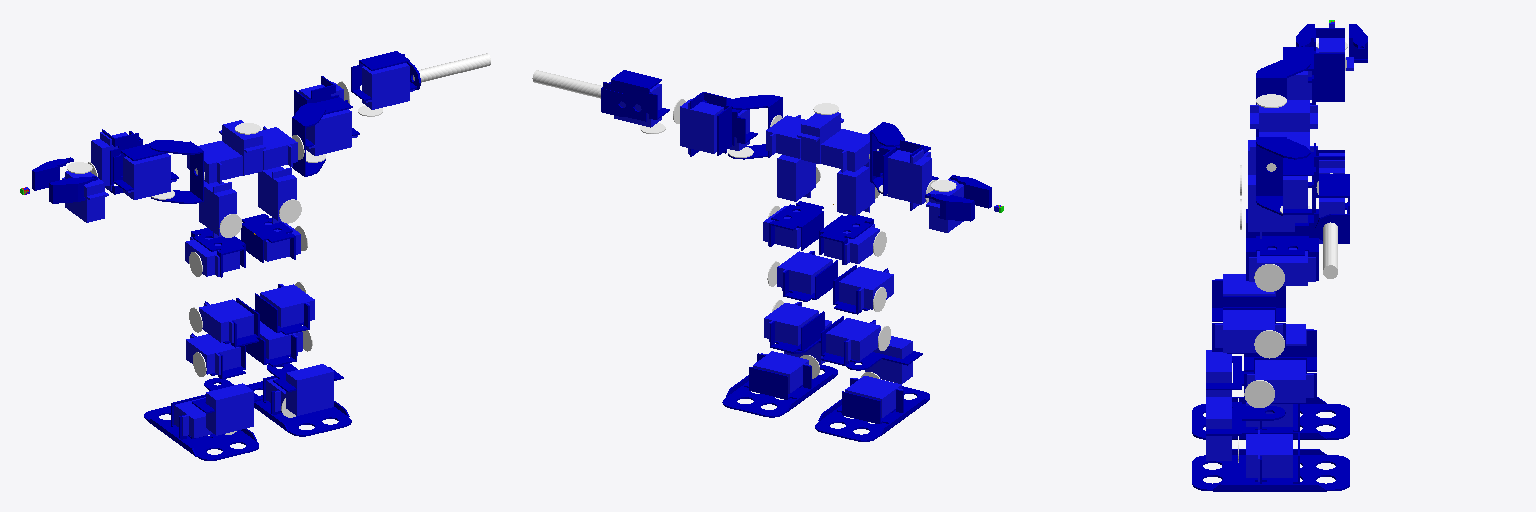
--- Render facts (derived) ---
3 views of the same robot in one strip: view 1: azimuth 30°, elevation 25°; view 2: azimuth 150°, elevation 25°; view 3: azimuth 270°, elevation 25° (orthographic).
Model george with 102 links and 101 joints (27 revolute, 74 fixed), rooted at base_link, posed every joint at zero.
Visible links, largest first — view 1: lpright_servo_servo_body, lpleft_servo_servo_body, rfoot, LWristFlex_servo_body, RElbow_servo_body, lfoot, RKnee_servo_body, LElbow_servo_body, rshoulder1, lthigh2, LKnee_servo_body, LWaist_servo_body (+22 smaller); view 2: rfoot, RWristTwist_servo_body, lfoot, LWristTwist_servo_body, lforearm4, RAnkleBend_servo_body, lthigh2, RShoulder_servo_body, RWaist_servo_body, LWaist_servo_body, RKnee_servo_body, LAnkleBend_servo_body (+22 smaller); view 3: lfoot, rfoot, lshoulder1, LAnkleTilt_servo_body, rforearm2, LKnee_servo_body, LAnkleBend_servo_body, lthigh2, lpleft_servo_servo_body, rknee1, rshoulder1, Head_servo_body (+18 smaller).
Boxes of the visible links, x1,y1,x2,y2 form: lpright_servo_servo_body: (206, 383, 253, 435); lpleft_servo_servo_body: (286, 364, 333, 415); rfoot: (144, 406, 258, 460); LWristFlex_servo_body: (362, 63, 409, 109); RElbow_servo_body: (123, 153, 170, 199); lfoot: (246, 381, 351, 436); RKnee_servo_body: (199, 299, 253, 342); LElbow_servo_body: (306, 109, 351, 155); rshoulder1: (150, 140, 203, 203); lthigh2: (241, 214, 295, 262); LKnee_servo_body: (260, 284, 314, 327); LWaist_servo_body: (258, 166, 296, 220); rfoot: (815, 386, 929, 441); RWristTwist_servo_body: (888, 150, 931, 204); lfoot: (722, 364, 837, 417); LWristTwist_servo_body: (680, 99, 723, 153); lforearm4: (603, 70, 669, 121); RAnkleBend_servo_body: (826, 318, 880, 360); lthigh2: (769, 201, 823, 250); RShoulder_servo_body: (821, 129, 869, 171); RWaist_servo_body: (837, 166, 874, 215); LWaist_servo_body: (777, 155, 815, 201); RKnee_servo_body: (839, 266, 893, 309); LAnkleBend_servo_body: (764, 303, 818, 345); lfoot: (1192, 449, 1349, 491); rfoot: (1192, 397, 1349, 439); lshoulder1: (1256, 137, 1310, 215); LAnkleTilt_servo_body: (1246, 434, 1292, 477); rforearm2: (1314, 28, 1344, 104); LKnee_servo_body: (1223, 310, 1274, 352); LAnkleBend_servo_body: (1255, 360, 1305, 402); lthigh2: (1246, 236, 1318, 280); lpleft_servo_servo_body: (1206, 397, 1231, 460); rknee1: (1212, 280, 1285, 321); rshoulder1: (1256, 57, 1310, 136); Head_servo_body: (1259, 102, 1309, 131).
Bounding box of the posed robot: 0.5012 × 0.137 × 0.3095 m (x, y, z).
22 mesh visuals loaded from 10 distinct referenced files (7 Collada DAE); not drawn: 13 (file found but could not be loaded).

robot.urdf — george:
<?xml version="1.0" ?>
<!-- =================================================================================== -->
<!-- |    This document was autogenerated by xacro from george.urdf.xacro              | -->
<!-- |    EDITING THIS FILE BY HAND IS NOT RECOMMENDED                                 | -->
<!-- =================================================================================== -->
<robot name="george" xmlns:xacro="http://www.ros.org/wiki/xacro">
  <!-- Import all Gazebo-customization elements, including Gazebo colors -->
  <gazebo>
    <plugin filename="libgazebo_ros_control.so" name="gazebo_ros_control">
      <robotNamespace>/george</robotNamespace>
    </plugin>
  </gazebo>
  <link name="torso_mass">
    <visual>
      <geometry>
        <box size=".001 .001 .001"/>
      </geometry>
    </visual>
    <collision>
      <geometry>
        <box size=".001 .001 .001"/>
      </geometry>
    </collision>
    <inertial>
      <inertia ixx="0.001" ixy="0.0" ixz="0.0" iyy="0.001" iyz="0.0" izz="0.001"/>
      <mass value="0.4"/>
    </inertial>
  </link>
  <link name="base_link">
    <visual>
      <geometry>
        <mesh filename="package://george/meshes/torso_mm.dae" scale="1 1 1"/>
      </geometry>
      <origin rpy="1.5708 0 3.1416" xyz="0 0 0"/>
      <material name="blue">
        <color rgba="0 0 .8 1"/>
      </material>
    </visual>
    <collision>
      <geometry>
        <box size=".040 .02 .0365"/>
      </geometry>
      <origin rpy="0 0 3.1416" xyz="0 0 0"/>
    </collision>
    <!--       <inertial>
	<mass value="0.001"/>
	<xacro:default_inertia/>
      </inertial>
-->
  </link>
  <!-- *****  Servo macro **********  -->
  <!-- servo body parent - for use when the body is the parent -->
  <!-- servo horn parent - for use when the body is the parent -->
  <!-- end servo macro -->
  <!-- cbracket macro, visual origin at inside end -->
  <!-- end multi purpose bracket -->
  <!-- multi purpose bracket macro A side as the parent -->
  <!-- multi purpose bracket macro B side as the parent -->
  <!-- multi purpose bracket macro C side as the parent -->
  <!-- multi purpose bracket macro C side as the parent, rotated -->
  <!-- multi purpose bracket macro -->
  <!-- end multi purpose bracket -->
  <!-- offset-c bracket macro -->
  <!-- end offset c bracket -->
  <!-- lconnector macro -->
  <!-- end lconnector -->
  <!-- foot macro -->
  <!-- end foot macro -->
  <!-- tube -->
  <!-- end tube -->
  <!-- gripper macro -->
  <!-- end gripper macro -->
  <!-- low profile axis macro -->
  <!-- end low profile axis macro -->
  <!-- *********************************************************** -->
  <!-- ****************************** Main robot definition ***************** -->
  <!-- *********************************************************** -->
  <!-- *********************************************************** -->
  <!-- ********* Left Leg **************************************** -->
  <!-- *********************************************************** -->
  <link name="LWaist_servo_body">
    <visual>
      <geometry>
        <box size=".040 .02 .0365"/>
      </geometry>
      <origin rpy="0 0 0" xyz="0 0 -0.00825"/>
      <material name="black">
        <color rgba=".1 .1 1 1"/>
      </material>
    </visual>
    <collision>
      <geometry>
        <box size=".040 .02 .0365"/>
      </geometry>
      <origin rpy="0 0 0" xyz="0 0 -0.00825"/>
    </collision>
    <inertial>
      <mass value="0.055"/>
      <inertia ixx="0.001" ixy="0.0" ixz="0.0" iyy="0.001" iyz="0.0" izz="0.001"/>
    </inertial>
  </link>
  <link name="LWaist_servo_lip">
    <visual>
      <geometry>
        <box size=".0528 .02 .002"/>
      </geometry>
      <origin rpy="0 0 0.001" xyz="0 0 0"/>
      <material name="black">
        <color rgba=".1 .1 1 1"/>
      </material>
    </visual>
    <collision>
      <geometry>
        <box size=".0528 .02 .002"/>
      </geometry>
      <origin rpy="0 0 0.001" xyz="0 0 0"/>
    </collision>
    <inertial>
      <mass value="0.001"/>
      <inertia ixx="0.001" ixy="0.0" ixz="0.0" iyy="0.001" iyz="0.0" izz="0.001"/>
    </inertial>
  </link>
  <link name="LWaist_servo_horn">
    <visual>
      <geometry>
        <cylinder length="0.001" radius="0.012"/>
      </geometry>
      <origin rpy="0 0 0" xyz="0 0 -.0005"/>
      <material name="white">
        <color rgba="1 1 1 1"/>
      </material>
    </visual>
    <collision>
      <geometry>
        <cylinder length="0.001" radius="0.012"/>
      </geometry>
      <origin rpy="0 0 0" xyz="0 0 -.0005"/>
    </collision>
    <inertial>
      <mass value="0.001"/>
      <inertia ixx="0.001" ixy="0.0" ixz="0.0" iyy="0.001" iyz="0.0" izz="0.001"/>
    </inertial>
  </link>
  <joint name="LWaist_servo_lip_to_body" type="fixed">
    <parent link="LWaist_servo_body"/>
    <child link="LWaist_servo_lip"/>
    <origin xyz="0 0 0"/>
  </joint>
  <joint name="LWaist" type="revolute">
    <axis xyz="0 0 -1"/>
    <limit effort="1000.0" lower="-1.5708" upper="1.5708" velocity="0.5"/>
    <parent link="LWaist_servo_body"/>
    <child link="LWaist_servo_horn"/>
    <origin rpy="0 0 1.5708" xyz=".01 0 0.0161"/>
  </joint>
  <joint name="torso_to_base" type="fixed">
    <parent link="base_link"/>
    <child link="torso_mass"/>
    <origin rpy="0 0 0" xyz="0 0 0"/>
  </joint>
  <joint name="torso_to_lwaist" type="fixed">
    <parent link="base_link"/>
    <child link="LWaist_servo_body"/>
    <origin rpy="1.5708 1.5708 0" xyz="0.032 0.005 0.03"/>
  </joint>
  <link name="lthigh1">
    <visual>
      <geometry>
        <mesh filename="package://george/meshes/cbracket-simple.dae" scale="1 1 1"/>
      </geometry>
      <origin rpy="0 1.5708 0" xyz="0 -0.0286 -0.0246"/>
      <material name="blue">
        <color rgba="0 0 .8 1"/>
      </material>
    </visual>
    <collision>
      <geometry>
        <box size=".005 .005 .005"/>
        <!--  mesh filename="package://george/meshes/cbracket-simple.dae" scale="1 1 1"/-->
      </geometry>
      <origin rpy="0 1.5708 0" xyz="0 -0.0286 -0.0246"/>
    </collision>
    <inertial>
      <mass value="0.001"/>
      <inertia ixx="0.001" ixy="0.0" ixz="0.0" iyy="0.001" iyz="0.0" izz="0.001"/>
    </inertial>
  </link>
  <joint name="lthigh1_to_lwaist" type="fixed">
    <parent link="LWaist_servo_horn"/>
    <child link="lthigh1"/>
    <origin rpy="0 0 0" xyz="0 0 0"/>
  </joint>
  <link name="lthigh2">
    <visual>
      <geometry>
        <mesh filename="package://george/meshes/multi-purp-simple.dae" scale="1 1 1"/>
      </geometry>
      <origin rpy="-1.5708 0 1.5708" xyz="0 0 0"/>
      <material name="blue">
        <color rgba="0 0 .8 1"/>
      </material>
    </visual>
    <collision>
      <geometry>
        <box size=".005 .005 .005"/>
        <!--  mesh filename="package://george/meshes/multi-purp-simple.dae" scale="1 1 1"/-->
      </geometry>
      <origin rpy="-1.5708 0 1.5708" xyz="0 0 0"/>
    </collision>
    <inertial>
      <mass value="0.001"/>
      <inertia ixx="0.001" ixy="0.0" ixz="0.0" iyy="0.001" iyz="0.0" izz="0.001"/>
    </inertial>
  </link>
  <joint name="lthigh1_to_lthigh2" type="fixed">
    <parent link="lthigh1"/>
    <child link="lthigh2"/>
    <origin rpy="-1.5708 0 0" xyz="-0.0054 -0.0286 -0.0329"/>
  </joint>
  <link name="LHip_servo_body">
    <visual>
      <geometry>
        <box size=".040 .02 .0365"/>
      </geometry>
      <origin rpy="0 0 0" xyz="0 0 -0.00825"/>
      <material name="black">
        <color rgba=".1 .1 1 1"/>
      </material>
    </visual>
    <collision>
      <geometry>
        <box size=".040 .02 .0365"/>
      </geometry>
      <origin rpy="0 0 0" xyz="0 0 -0.00825"/>
    </collision>
    <inertial>
      <mass value="0.055"/>
      <inertia ixx="0.001" ixy="0.0" ixz="0.0" iyy="0.001" iyz="0.0" izz="0.001"/>
    </inertial>
  </link>
  <link name="LHip_servo_lip">
    <visual>
      <geometry>
        <box size=".0528 .02 .002"/>
      </geometry>
      <origin rpy="0 0 0.001" xyz="0 0 0"/>
      <material name="black">
        <color rgba=".1 .1 1 1"/>
      </material>
    </visual>
    <collision>
      <geometry>
        <box size=".0528 .02 .002"/>
      </geometry>
      <origin rpy="0 0 0.001" xyz="0 0 0"/>
    </collision>
    <inertial>
      <mass value="0.001"/>
      <inertia ixx="0.001" ixy="0.0" ixz="0.0" iyy="0.001" iyz="0.0" izz="0.001"/>
    </inertial>
  </link>
  <link name="LHip_servo_horn">
    <visual>
      <geometry>
        <cylinder length="0.001" radius="0.012"/>
      </geometry>
      <origin rpy="0 0 0" xyz="0 0 -.0005"/>
      <material name="white">
        <color rgba="1 1 1 1"/>
      </material>
    </visual>
    <collision>
      <geometry>
        <cylinder length="0.001" radius="0.012"/>
      </geometry>
      <origin rpy="0 0 0" xyz="0 0 -.0005"/>
    </collision>
    <inertial>
      <mass value="0.001"/>
      <inertia ixx="0.001" ixy="0.0" ixz="0.0" iyy="0.001" iyz="0.0" izz="0.001"/>
    </inertial>
  </link>
  <joint name="LHip_servo_lip_to_body" type="fixed">
    <parent link="LHip_servo_body"/>
    <child link="LHip_servo_lip"/>
    <origin xyz="0 0 0"/>
  </joint>
  <joint name="LHip" type="revolute">
    <axis xyz="0 0 -1"/>
    <limit effort="1000.0" lower="-1.5708" upper="1.5708" velocity="0.5"/>
    <parent link="LHip_servo_body"/>
    <child link="LHip_servo_horn"/>
    <origin rpy="0 0 3.1416" xyz=".01 0 0.0161"/>
  </joint>
  <joint name="lthigh2_to_LHip" type="fixed">
    <parent link="lthigh2"/>
    <child link="LHip_servo_body"/>
    <origin rpy="-1.5708 0 -1.5708" xyz="0.0144 0 -0.0142"/>
  </joint>
  <link name="lthigh3">
    <visual>
      <geometry>
        <mesh filename="package://george/meshes/cbracket-simple.dae" scale="1 1 1"/>
      </geometry>
      <origin rpy="0 1.5708 0" xyz="0 -0.0286 -0.0246"/>
      <material name="blue">
        <color rgba="0 0 .8 1"/>
      </material>
    </visual>
    <collision>
      <geometry>
        <box size=".005 .005 .005"/>
        <!--  mesh filename="package://george/meshes/cbracket-simple.dae" scale="1 1 1"/-->
      </geometry>
      <origin rpy="0 1.5708 0" xyz="0 -0.0286 -0.0246"/>
    </collision>
    <inertial>
      <mass value="0.001"/>
      <inertia ixx="0.001" ixy="0.0" ixz="0.0" iyy="0.001" iyz="0.0" izz="0.001"/>
    </inertial>
  </link>
  <joint name="lthigh3_to_lhip" type="fixed">
    <parent link="LHip_servo_horn"/>
    <child link="lthigh3"/>
    <origin rpy="0 0 0" xyz="0 0 0"/>
  </joint>
  <link name="lthigh4">
    <visual>
      <geometry>
        <mesh filename="package://george/meshes/cbracket-simple.dae" scale="1 1 1"/>
      </geometry>
      <origin rpy="-1.5708 0 0" xyz="0 0 0"/>
      <material name="blue">
        <color rgba="0 0 .8 1"/>
      </material>
    </visual>
    <collision>
      <geometry>
        <box size=".005 .005 .005"/>
        <!--  mesh filename="package://george/meshes/cbracket-simple.dae" scale="1 1 1"/-->
      </geometry>
      <origin rpy="-1.5708 0 0" xyz="0 0 0"/>
    </collision>
    <inertial>
      <mass value="0.001"/>
      <inertia ixx="0.001" ixy="0.0" ixz="0.0" iyy="0.001" iyz="0.0" izz="0.001"/>
    </inertial>
  </link>
  <joint name="lthigh3_to_lthigh4" type="fixed">
    <parent link="lthigh3"/>
    <child link="lthigh4"/>
    <origin rpy="-1.5708 1.5708 0" xyz="0 -0.0286 -0.0246"/>
  </joint>
  <link name="LKnee_servo_body">
    <visual>
      <geometry>
        <box size=".040 .02 .0365"/>
      </geometry>
      <origin rpy="0 0 0" xyz="0.0161 0 -0.00825"/>
      <material name="black">
        <color rgba=".1 .1 1 1"/>
      </material>
    </visual>
    <collision>
      <geometry>
        <box size=".040 .02 .0365"/>
      </geometry>
      <origin rpy="0 0 0" xyz="0.0161 0 -0.00825"/>
    </collision>
    <inertial>
      <mass value="0.055"/>
      <inertia ixx="0.001" ixy="0.0" ixz="0.0" iyy="0.001" iyz="0.0" izz="0.001"/>
    </inertial>
  </link>
  <link name="LKnee_servo_lip">
    <visual>
      <geometry>
        <box size=".0528 .02 .002"/>
      </geometry>
      <origin rpy="0 0 0.001" xyz="0 0 0"/>
      <material name="black">
        <color rgba=".1 .1 1 1"/>
      </material>
    </visual>
    <collision>
      <geometry>
        <box size=".0528 .02 .002"/>
      </geometry>
      <origin rpy="0 0 0.001" xyz="0 0 0"/>
    </collision>
    <inertial>
      <mass value="0.001"/>
      <inertia ixx="0.001" ixy="0.0" ixz="0.0" iyy="0.001" iyz="0.0" izz="0.001"/>
    </inertial>
  </link>
  <link name="LKnee_servo_horn">
    <visual>
      <geometry>
        <cylinder length="0.001" radius="0.012"/>
      </geometry>
      <origin rpy="0 0 0" xyz="0 0 -.0005"/>
      <material name="white">
        <color rgba="1 1 1 1"/>
      </material>
    </visual>
    <collision>
      <geometry>
        <cylinder length="0.001" radius="0.012"/>
      </geometry>
      <origin rpy="0 0 0" xyz="0 0 -.0005"/>
    </collision>
    <inertial>
      <mass value="0.001"/>
      <inertia ixx="0.001" ixy="0.0" ixz="0.0" iyy="0.001" iyz="0.0" izz="0.001"/>
    </inertial>
  </link>
  <joint name="LKnee_servo_lip_to_body" type="fixed">
    <parent link="LKnee_servo_body"/>
    <child link="LKnee_servo_lip"/>
    <origin xyz="0.0161 0 0"/>
  </joint>
  <joint name="LKnee" type="revolute">
    <axis xyz="0 0 1"/>
    <limit effort="1000.0" lower="-1.5708" upper="1.5708" velocity="0.5"/>
    <parent link="LKnee_servo_horn"/>
    <child link="LKnee_servo_body"/>
    <origin rpy="0 0 1.5708" xyz="0.0 0 -0.0161"/>
  </joint>
  <joint name="lthigh4_to_lknee" type="fixed">
    <parent link="lthigh4"/>
    <child link="LKnee_servo_horn"/>
    <origin rpy="0 -1.5708 0" xyz="-0.0246 0 -0.0286"/>
  </joint>
  <link name="lknee1">
    <visual>
      <geometry>
        <mesh filename="package://george/meshes/multi-purp-simple.dae" scale="1 1 1"/>
      </geometry>
      <origin rpy="0 3.1416 3.1416" xyz="0.0161 0.0142 -0.0144"/>
      <material name="blue">
        <color rgba="0 0 .8 1"/>
      </material>
    </visual>
    <collision>
      <geometry>
        <box size=".005 .005 .005"/>
        <!--  mesh filename="package://george/meshes/multi-purp-simple.dae" scale="1 1 1"/-->
      </geometry>
      <origin rpy="0 3.1416 3.1416" xyz="0.0161 0.0142 -0.0144"/>
    </collision>
    <inertial>
      <mass value="0.001"/>
      <inertia ixx="0.001" ixy="0.0" ixz="0.0" iyy="0.001" iyz="0.0" izz="0.001"/>
    </inertial>
  </link>
  <joint name="lknee_to_lknee1" type="fixed">
    <parent link="LKnee_servo_body"/>
    <child link="lknee1"/>
    <origin rpy="0 0 0" xyz="0 0 0"/>
  </joint>
  <link name="lknee2">
    <visual>
      <geometry>
        <mesh filename="package://george/meshes/cbracket-simple.dae" scale="1 1 1"/>
      </geometry>
      <origin rpy="-1.5708 0 0" xyz="0 0 0"/>
      <material name="blue">
        <color rgba="0 0 .8 1"/>
      </material>
    </visual>
    <collision>
      <geometry>
        <box size=".005 .005 .005"/>
        <!--  mesh filename="package://george/meshes/cbracket-simple.dae" scale="1 1 1"/-->
      </geometry>
      <origin rpy="-1.5708 0 0" xyz="0 0 0"/>
    </collision>
    <inertial>
      <mass value="0.001"/>
      <inertia ixx="0.001" ixy="0.0" ixz="0.0" iyy="0.001" iyz="0.0" izz="0.001"/>
    </inertial>
  </link>
  <joint name="lknee1_to_lknee2" type="fixed">
    <parent link="lknee1"/>
    <child link="lknee2"/>
    <origin rpy="1.5708 1.5708 0" xyz="0.0078 0.0141 -0.008"/>
  </joint>
  <link name="LAnkleBend_servo_body">
    <visual>
      <geometry>
        <box size=".040 .02 .0365"/>
      </geometry>
      <origin rpy="0 0 0" xyz="0.0161 0 -0.00825"/>
      <material name="black">
        <color rgba=".1 .1 1 1"/>
      </material>
    </visual>
    <collision>
      <geometry>
        <box size=".040 .02 .0365"/>
      </geometry>
      <origin rpy="0 0 0" xyz="0.0161 0 -0.00825"/>
    </collision>
    <inertial>
      <mass value="0.055"/>
      <inertia ixx="0.001" ixy="0.0" ixz="0.0" iyy="0.001" iyz="0.0" izz="0.001"/>
    </inertial>
  </link>
  <link name="LAnkleBend_servo_lip">
    <visual>
      <geometry>
        <box size=".0528 .02 .002"/>
      </geometry>
      <origin rpy="0 0 0.001" xyz="0 0 0"/>
      <material name="black">
        <color rgba=".1 .1 1 1"/>
      </material>
    </visual>
    <collision>
      <geometry>
        <box size=".0528 .02 .002"/>
      </geometry>
      <origin rpy="0 0 0.001" xyz="0 0 0"/>
    </collision>
    <inertial>
      <mass value="0.001"/>
      <inertia ixx="0.001" ixy="0.0" ixz="0.0" iyy="0.001" iyz="0.0" izz="0.001"/>
    </inertial>
  </link>
  <link name="LAnkleBend_servo_horn">
    <visual>
      <geometry>
        <cylinder length="0.001" radius="0.012"/>
      </geometry>
      <origin rpy="0 0 0" xyz="0 0 -.0005"/>
      <material name="white">
        <color rgba="1 1 1 1"/>
      </material>
    </visual>
    <collision>
      <geometry>
        <cylinder length="0.001" radius="0.012"/>
      </geometry>
      <origin rpy="0 0 0" xyz="0 0 -.0005"/>
    </collision>
    <inertial>
      <mass value="0.001"/>
      <inertia ixx="0.001" ixy="0.0" ixz="0.0" iyy="0.001" iyz="0.0" izz="0.001"/>
    </inertial>
  </link>
  <joint name="LAnkleBend_servo_lip_to_body" type="fixed">
    <parent link="LAnkleBend_servo_body"/>
    <child link="LAnkleBend_servo_lip"/>
    <origin xyz="0.0161 0 0"/>
  </joint>
  <joint name="LAnkleBend" type="revolute">
    <axis xyz="0 0 1"/>
    <limit effort="1000.0" lower="-1.5708" upper="1.5708" velocity="0.5"/>
    <parent link="LAnkleBend_servo_horn"/>
    <child link="LAnkleBend_servo_body"/>
    <origin rpy="0 0 -1.5708" xyz="0.0 0 -0.0161"/>
  </joint>
  <joint name="lknee2_to_lanklebend" type="fixed">
    <parent link="lknee2"/>
    <child link="LAnkleBend_servo_horn"/>
    <origin rpy="0 -1.5708 0" xyz="-0.0246 0 -0.0286"/>
  </joint>
  <link name="lshin1">
    <visual>
      <geometry>
        <mesh filename="package://george/meshes/multi-purp-simple.dae" scale="1 1 1"/>
      </geometry>
      <origin rpy="0 3.1416 0" xyz="0.0161 -0.0142 -0.0144"/>
      <material name="blue">
        <color rgba="0 0 .8 1"/>
      </material>
    </visual>
    <collision>
      <geometry>
        <box size=".005 .005 .005"/>
        <!--  mesh filename="package://george/meshes/multi-purp-simple.dae" scale="1 1 1"/-->
      </geometry>
      <origin rpy="0 3.1416 0" xyz="0.0161 -0.0142 -0.0144"/>
    </collision>
    <inertial>
      <mass value="0.001"/>
      <inertia ixx="0.001" ixy="0.0" ixz="0.0" iyy="0.001" iyz="0.0" izz="0.001"/>
    </inertial>
  </link>
  <joint name="lanklebend_to_lshin1" type="fixed">
    <parent link="LAnkleBend_servo_body"/>
    <child link="lshin1"/>
    <origin rpy="0 0 0" xyz="0 0 0"/>
  </joint>
  <link name="lpleft">
    <visual>
      <geometry>
        <mesh filename="package://george/meshes/low-profile-simple.dae" scale="1 1 1"/>
      </geometry>
      <origin rpy="-1.5708 -1.5708 0" xyz="0 0 0"/>
      <material name="blue">
        <color rgba="0 0 .8 1"/>
      </material>
    </visual>
    <collision>
      <geometry>
        <box size=".005 .005 .005"/>
        <!--  mesh filename="package://george/meshes/low-profile-simple.dae" scale="1 1 1"/-->
      </geometry>
      <origin rpy="-1.5708 -1.5708 0" xyz="0 0 0"/>
      <material name="blue">
        <color rgba="0 0 .8 1"/>
      </material>
    </collision>
    <inertial>
      <mass value="0.001"/>
      <inertia ixx="0.001" ixy="0.0" ixz="0.0" iyy="0.001" iyz="0.0" izz="0.001"/>
    </inertial>
  </link>
  <link name="lpleft_servo_servo_body">
    <visual>
      <geometry>
        <box size=".040 .02 .0365"/>
      </geometry>
      <origin rpy="0 0 0" xyz="0 0 -0.00825"/>
      <material name="black">
        <color rgba=".1 .1 1 1"/>
      </material>
    </visual>
    <collision>
      <geometry>
        <box size=".040 .02 .0365"/>
      </geometry>
      <origin rpy="0 0 0" xyz="0 0 -0.00825"/>
    </collision>
    <inertial>
      <mass value="0.055"/>
      <inertia ixx="0.001" ixy="0.0" ixz="0.0" iyy="0.001" iyz="0.0" izz="0.001"/>
    </inertial>
  </link>
  <joint name="lpleft_lp_to_servo" type="fixed">
    <parent link="lpleft"/>
    <child link="lpleft_servo_servo_body"/>
    <origin rpy="0 1.5708 1.5708" xyz="-0.0397 0.0 0.0097"/>
  </joint>
  <joint name="LAnkleRotate" type="revolute">
    <axis xyz="0 -1 0"/>
    <limit effort="1000.0" lower="-1.5708" upper="1.5708" velocity="0.5"/>
    <parent link="lshin1"/>
    <child link="lpleft"/>
    <origin rpy="0 0 0" xyz="0.0078 -0.0281 -0.008"/>
  </joint>
  <link name="lshin2">
    <visual>
      <geometry>
        <mesh filename="package://george/meshes/cbracket-simple.dae" scale="1 1 1"/>
      </geometry>
      <origin rpy="-1.5708 0 0" xyz="0 0 0"/>
      <material name="blue">
        <color rgba="0 0 .8 1"/>
      </material>
    </visual>
    <collision>
      <geometry>
        <box size=".005 .005 .005"/>
        <!--  mesh filename="package://george/meshes/cbracket-simple.dae" scale="1 1 1"/-->
      </geometry>
      <origin rpy="-1.5708 0 0" xyz="0 0 0"/>
    </collision>
    <inertial>
      <mass value="0.001"/>
      <inertia ixx="0.001" ixy="0.0" ixz="0.0" iyy="0.001" iyz="0.0" izz="0.001"/>
    </inertial>
  </link>
  <joint name="lpleft_to_lshin2" type="fixed">
    <parent link="lpleft"/>
    <child link="lshin2"/>
    <origin rpy="-1.5708 0 0" xyz="0 0 0"/>
  </joint>
  <link name="LAnkleTilt_servo_body">
    <visual>
      <geometry>
        <box size=".040 .02 .0365"/>
      </geometry>
      <origin rpy="0 0 0" xyz="0.0161 0 -0.00825"/>
      <material name="black">
        <color rgba=".1 .1 1 1"/>
      </material>
    </visual>
    <collision>
      <geometry>
        <box size=".040 .02 .0365"/>
      </geometry>
      <origin rpy="0 0 0" xyz="0.0161 0 -0.00825"/>
    </collision>
    <inertial>
      <mass value="0.055"/>
      <inertia ixx="0.001" ixy="0.0" ixz="0.0" iyy="0.001" iyz="0.0" izz="0.001"/>
    </inertial>
  </link>
  <link name="LAnkleTilt_servo_lip">
    <visual>
      <geometry>
        <box size=".0528 .02 .002"/>
      </geometry>
      <origin rpy="0 0 0.001" xyz="0 0 0"/>
      <material name="black">
        <color rgba=".1 .1 1 1"/>
      </material>
    </visual>
    <collision>
      <geometry>
        <box size=".0528 .02 .002"/>
      </geometry>
      <origin rpy="0 0 0.001" xyz="0 0 0"/>
    </collision>
    <inertial>
      <mass value="0.001"/>
      <inertia ixx="0.001" ixy="0.0" ixz="0.0" iyy="0.001" iyz="0.0" izz="0.001"/>
    </inertial>
  </link>
  <link name="LAnkleTilt_servo_horn">
    <visual>
      <geometry>
        <cylinder length="0.001" radius="0.012"/>
      </geometry>
      <origin rpy="0 0 0" xyz="0 0 -.0005"/>
      <material name="white">
        <color rgba="1 1 1 1"/>
      </material>
    </visual>
    <collision>
      <geometry>
        <cylinder length="0.001" radius="0.012"/>
      </geometry>
      <origin rpy="0 0 0" xyz="0 0 -.0005"/>
    </collision>
    <inertial>
      <mass value="0.001"/>
      <inertia ixx="0.001" ixy="0.0" ixz="0.0" iyy="0.001" iyz="0.0" izz="0.001"/>
    </inertial>
  </link>
  <joint name="LAnkleTilt_servo_lip_to_body" type="fixed">
    <parent link="LAnkleTilt_servo_body"/>
    <child link="LAnkleTilt_servo_lip"/>
    <origin xyz="0.0161 0 0"/>
  </joint>
  <joint name="LAnkleTilt" type="revolute">
    <axis xyz="0 0 1"/>
    <limit effort="1000.0" lower="-1.5708" upper="1.5708" velocity="0.5"/>
    <parent link="LAnkleTilt_servo_horn"/>
    <child link="LAnkleTilt_servo_body"/>
    <origin rpy="0 0 -1.5708" xyz="0.0 0 -0.0161"/>
  </joint>
  <joint name="lshin2_to_lankletwist" type="fixed">
    <parent link="lshin2"/>
    <child link="LAnkleTilt_servo_horn"/>
    <origin rpy="0 -1.5708 0" xyz="-0.0246 0 -0.0286"/>
  </joint>
  <link name="lshin3">
    <visual>
      <geometry>
        <mesh filename="package://george/meshes/multi-purp-simple.dae" scale="1 1 1"/>
      </geometry>
      <origin rpy="0 3.1416 0" xyz="0.0161 -0.0142 -0.0144"/>
      <material name="blue">
        <color rgba="0 0 .8 1"/>
      </material>
    </visual>
    <collision>
      <geometry>
        <box size=".005 .005 .005"/>
        <!--  mesh filename="package://george/meshes/multi-purp-simple.dae" scale="1 1 1"/-->
      </geometry>
      <origin rpy="0 3.1416 0" xyz="0.0161 -0.0142 -0.0144"/>
    </collision>
    <inertial>
      <mass value="0.001"/>
      <inertia ixx="0.001" ixy="0.0" ixz="0.0" iyy="0.001" iyz="0.0" izz="0.001"/>
    </inertial>
  </link>
  <joint name="lankletwist_to_lshin3" type="fixed">
    <parent link="LAnkleTilt_servo_body"/>
    <child link="lshin3"/>
    <origin rpy="0 0 0" xyz="0 0 0"/>
  </joint>
  <link name="lfoot">
    <visual>
      <geometry>
        <mesh filename="package://george/meshes/foot.dae"/>
      </geometry>
      <origin rpy="0 0 0" xyz="0 0 0"/>
      <material name="blue">
        <color rgba="0 0 .8 1"/>
      </material>
    </visual>
    <collision>
      <geometry>
        <box size="0.065 0.002 0.15"/>
      </geometry>
      <origin rpy="0 0 0" xyz="0 0 0"/>
    </collision>
    <inertial>
      <mass value="0.001"/>
      <inertia ixx="0.001" ixy="0.0" ixz="0.0" iyy="0.001" iyz="0.0" izz="0.001"/>
    </inertial>
  </link>
  <joint name="lshin3_to_lfoot" type="fixed">
    <parent link="lshin3"/>
    <child link="lfoot"/>
    <origin rpy="0 3.1416 0" xyz="0.0161 -0.0156 -0.0"/>
  </joint>
  <!-- *********************************************************** -->
  <!-- ***** Right Leg ******************************************* -->
  <!-- *********************************************************** -->
  <link name="RWaist_servo_body">
    <visual>
      <geometry>
        <box size=".040 .02 .0365"/>
      </geometry>
      <origin rpy="0 0 0" xyz="0 0 -0.00825"/>
      <material name="black">
        <color rgba=".1 .1 1 1"/>
      </material>
    </visual>
    <collision>
      <geometry>
        <box size=".040 .02 .0365"/>
      </geometry>
      <origin rpy="0 0 0" xyz="0 0 -0.00825"/>
    </collision>
    <inertial>
      <mass value="0.055"/>
      <inertia ixx="0.001" ixy="0.0" ixz="0.0" iyy="0.001" iyz="0.0" izz="0.001"/>
    </inertial>
  </link>
  <link name="RWaist_servo_lip">
    <visual>
      <geometry>
        <box size=".0528 .02 .002"/>
      </geometry>
      <origin rpy="0 0 0.001" xyz="0 0 0"/>
      <material name="black">
        <color rgba=".1 .1 1 1"/>
      </material>
    </visual>
    <collision>
      <geometry>
        <box size=".0528 .02 .002"/>
      </geometry>
      <origin rpy="0 0 0.001" xyz="0 0 0"/>
    </collision>
    <inertial>
      <mass value="0.001"/>
      <inertia ixx="0.001" ixy="0.0" ixz="0.0" iyy="0.001" iyz="0.0" izz="0.001"/>
    </inertial>
  </link>
  <link name="RWaist_servo_horn">
    <visual>
      <geometry>
        <cylinder length="0.001" radius="0.012"/>
      </geometry>
      <origin rpy="0 0 0" xyz="0 0 -.0005"/>
      <material name="white">
        <color rgba="1 1 1 1"/>
      </material>
    </visual>
    <collision>
      <geometry>
        <cylinder length="0.001" radius="0.012"/>
      </geometry>
      <origin rpy="0 0 0" xyz="0 0 -.0005"/>
    </collision>
    <inertial>
      <mass value="0.001"/>
      <inertia ixx="0.001" ixy="0.0" ixz="0.0" iyy="0.001" iyz="0.0" izz="0.001"/>
    </inertial>
  </link>
  <joint name="RWaist_servo_lip_to_body" type="fixed">
    <parent link="RWaist_servo_body"/>
    <child link="RWaist_servo_lip"/>
    <origin xyz="0 0 0"/>
  </joint>
  <joint name="RWaist" type="revolute">
    <axis xyz="0 0 -1"/>
    <limit effort="1000.0" lower="-1.5708" upper="1.5708" velocity="0.5"/>
    <parent link="RWaist_servo_body"/>
    <child link="RWaist_servo_horn"/>
    <origin rpy="0 0 1.5708" xyz=".01 0 0.0161"/>
  </joint>
  <joint name="torso_to_rwaist" type="fixed">
    <parent link="base_link"/>
    <child link="RWaist_servo_body"/>
    <origin rpy="1.5708 1.5708 0" xyz="-0.032 0.005 0.03"/>
  </joint>
  <link name="rthigh1">
    <visual>
      <geometry>
        <mesh filename="package://george/meshes/cbracket-simple.dae" scale="1 1 1"/>
      </geometry>
      <origin rpy="0 1.5708 0" xyz="0 -0.0286 -0.0246"/>
      <material name="blue">
        <color rgba="0 0 .8 1"/>
      </material>
    </visual>
    <collision>
      <geometry>
        <box size=".005 .005 .005"/>
        <!--  mesh filename="package://george/meshes/cbracket-simple.dae" scale="1 1 1"/-->
      </geometry>
      <origin rpy="0 1.5708 0" xyz="0 -0.0286 -0.0246"/>
    </collision>
    <inertial>
      <mass value="0.001"/>
      <inertia ixx="0.001" ixy="0.0" ixz="0.0" iyy="0.001" iyz="0.0" izz="0.001"/>
    </inertial>
  </link>
  <joint name="rthigh1_to_rwaist" type="fixed">
    <parent link="RWaist_servo_horn"/>
    <child link="rthigh1"/>
    <origin rpy="0 0 0" xyz="0 0 0"/>
  </joint>
  <link name="rthigh2">
    <visual>
      <geometry>
        <mesh filename="package://george/meshes/multi-purp-simple.dae" scale="1 1 1"/>
      </geometry>
      <origin rpy="-1.5708 0 1.5708" xyz="0 0 0"/>
      <material name="blue">
        <color rgba="0 0 .8 1"/>
      </material>
    </visual>
    <collision>
      <geometry>
        <box size=".005 .005 .005"/>
        <!--  mesh filename="package://george/meshes/multi-purp-simple.dae" scale="1 1 1"/-->
      </geometry>
      <origin rpy="-1.5708 0 1.5708" xyz="0 0 0"/>
    </collision>
    <inertial>
      <mass value="0.001"/>
      <inertia ixx="0.001" ixy="0.0" ixz="0.0" iyy="0.001" iyz="0.0" izz="0.001"/>
    </inertial>
  </link>
  <joint name="rthigh1_to_rthigh2" type="fixed">
    <parent link="rthigh1"/>
    <child link="rthigh2"/>
    <origin rpy="-1.5708 3.1416 0" xyz="+0.0054 -0.0286 -0.0329"/>
  </joint>
  <link name="RHip_servo_body">
    <visual>
      <geometry>
        <box size=".040 .02 .0365"/>
      </geometry>
      <origin rpy="0 0 0" xyz="0 0 -0.00825"/>
      <material name="black">
        <color rgba=".1 .1 1 1"/>
      </material>
    </visual>
    <collision>
      <geometry>
        <box size=".040 .02 .0365"/>
      </geometry>
      <origin rpy="0 0 0" xyz="0 0 -0.00825"/>
    </collision>
    <inertial>
      <mass value="0.055"/>
      <inertia ixx="0.001" ixy="0.0" ixz="0.0" iyy="0.001" iyz="0.0" izz="0.001"/>
    </inertial>
  </link>
  <link name="RHip_servo_lip">
    <visual>
      <geometry>
        <box size=".0528 .02 .002"/>
      </geometry>
      <origin rpy="0 0 0.001" xyz="0 0 0"/>
      <material name="black">
        <color rgba=".1 .1 1 1"/>
      </material>
    </visual>
    <collision>
      <geometry>
        <box size=".0528 .02 .002"/>
      </geometry>
      <origin rpy="0 0 0.001" xyz="0 0 0"/>
    </collision>
    <inertial>
      <mass value="0.001"/>
      <inertia ixx="0.001" ixy="0.0" ixz="0.0" iyy="0.001" iyz="0.0" izz="0.001"/>
    </inertial>
  </link>
  <link name="RHip_servo_horn">
    <visual>
      <geometry>
        <cylinder length="0.001" radius="0.012"/>
      </geometry>
      <origin rpy="0 0 0" xyz="0 0 -.0005"/>
      <material name="white">
        <color rgba="1 1 1 1"/>
      </material>
    </visual>
    <collision>
      <geometry>
        <cylinder length="0.001" radius="0.012"/>
      </geometry>
      <origin rpy="0 0 0" xyz="0 0 -.0005"/>
    </collision>
    <inertial>
      <mass value="0.001"/>
      <inertia ixx="0.001" ixy="0.0" ixz="0.0" iyy="0.001" iyz="0.0" izz="0.001"/>
    </inertial>
  </link>
  <joint name="RHip_servo_lip_to_body" type="fixed">
    <parent link="RHip_servo_body"/>
    <child link="RHip_servo_lip"/>
    <origin xyz="0 0 0"/>
  </joint>
  <joint name="RHip" type="revolute">
    <axis xyz="0 0 -1"/>
    <limit effort="1000.0" lower="-1.5708" upper="1.5708" velocity="0.5"/>
    <parent link="RHip_servo_body"/>
    <child link="RHip_servo_horn"/>
    <origin rpy="0 0 0" xyz=".01 0 0.0161"/>
  </joint>
  <joint name="rthigh2_to_rhip" type="fixed">
    <parent link="rthigh2"/>
    <child link="RHip_servo_body"/>
    <origin rpy="-1.5708 3.1416 -1.5708" xyz="0.0144 0 -0.0142"/>
  </joint>
  <link name="rthigh3">
    <visual>
      <geometry>
        <mesh filename="package://george/meshes/cbracket-simple.dae" scale="1 1 1"/>
      </geometry>
      <origin rpy="0 1.5708 0" xyz="0 -0.0286 -0.0246"/>
      <material name="blue">
        <color rgba="0 0 .8 1"/>
      </material>
    </visual>
    <collision>
      <geometry>
        <box size=".005 .005 .005"/>
        <!--  mesh filename="package://george/meshes/cbracket-simple.dae" scale="1 1 1"/-->
      </geometry>
      <origin rpy="0 1.5708 0" xyz="0 -0.0286 -0.0246"/>
    </collision>
    <inertial>
      <mass value="0.001"/>
      <inertia ixx="0.001" ixy="0.0" ixz="0.0" iyy="0.001" iyz="0.0" izz="0.001"/>
    </inertial>
  </link>
  <joint name="rthigh3_to_rhip" type="fixed">
    <parent link="RHip_servo_horn"/>
    <child link="rthigh3"/>
    <origin rpy="0 0 0" xyz="0 0 0"/>
  </joint>
  <link name="rthigh4">
    <visual>
      <geometry>
        <mesh filename="package://george/meshes/cbracket-simple.dae" scale="1 1 1"/>
      </geometry>
      <origin rpy="-1.5708 0 0" xyz="0 0 0"/>
      <material name="blue">
        <color rgba="0 0 .8 1"/>
      </material>
    </visual>
    <collision>
      <geometry>
        <box size=".005 .005 .005"/>
        <!--  mesh filename="package://george/meshes/cbracket-simple.dae" scale="1 1 1"/-->
      </geometry>
      <origin rpy="-1.5708 0 0" xyz="0 0 0"/>
    </collision>
    <inertial>
      <mass value="0.001"/>
      <inertia ixx="0.001" ixy="0.0" ixz="0.0" iyy="0.001" iyz="0.0" izz="0.001"/>
    </inertial>
  </link>
  <joint name="rthigh3_to_rthigh4" type="fixed">
    <parent link="rthigh3"/>
    <child link="rthigh4"/>
    <origin rpy="-1.5708 1.5708 0" xyz="0 -0.0286 -0.0246"/>
  </joint>
  <link name="RKnee_servo_body">
    <visual>
      <geometry>
        <box size=".040 .02 .0365"/>
      </geometry>
      <origin rpy="0 0 0" xyz="0.0161 0 -0.00825"/>
      <material name="black">
        <color rgba=".1 .1 1 1"/>
      </material>
    </visual>
    <collision>
      <geometry>
        <box size=".040 .02 .0365"/>
      </geometry>
      <origin rpy="0 0 0" xyz="0.0161 0 -0.00825"/>
    </collision>
    <inertial>
      <mass value="0.055"/>
      <inertia ixx="0.001" ixy="0.0" ixz="0.0" iyy="0.001" iyz="0.0" izz="0.001"/>
    </inertial>
  </link>
  <link name="RKnee_servo_lip">
    <visual>
      <geometry>
        <box size=".0528 .02 .002"/>
      </geometry>
      <origin rpy="0 0 0.001" xyz="0 0 0"/>
      <material name="black">
        <color rgba=".1 .1 1 1"/>
      </material>
    </visual>
    <collision>
      <geometry>
        <box size=".0528 .02 .002"/>
      </geometry>
      <origin rpy="0 0 0.001" xyz="0 0 0"/>
    </collision>
    <inertial>
      <mass value="0.001"/>
      <inertia ixx="0.001" ixy="0.0" ixz="0.0" iyy="0.001" iyz="0.0" izz="0.001"/>
    </inertial>
  </link>
  <link name="RKnee_servo_horn">
    <visual>
      <geometry>
        <cylinder length="0.001" radius="0.012"/>
      </geometry>
      <origin rpy="0 0 0" xyz="0 0 -.0005"/>
      <material name="white">
        <color rgba="1 1 1 1"/>
      </material>
    </visual>
    <collision>
      <geometry>
        <cylinder length="0.001" radius="0.012"/>
      </geometry>
      <origin rpy="0 0 0" xyz="0 0 -.0005"/>
    </collision>
    <inertial>
      <mass value="0.001"/>
      <inertia ixx="0.001" ixy="0.0" ixz="0.0" iyy="0.001" iyz="0.0" izz="0.001"/>
    </inertial>
  </link>
  <joint name="RKnee_servo_lip_to_body" type="fixed">
    <parent link="RKnee_servo_body"/>
    <child link="RKnee_servo_lip"/>
    <origin xyz="0.0161 0 0"/>
  </joint>
  <joint name="RKnee" type="revolute">
    <axis xyz="0 0 1"/>
    <limit effort="1000.0" lower="-1.5708" upper="1.5708" velocity="0.5"/>
    <parent link="RKnee_servo_horn"/>
    <child link="RKnee_servo_body"/>
    <origin rpy="0 0 -1.5708" xyz="0.0 0 -0.0161"/>
  </joint>
  <joint name="rthigh4_to_knee" type="fixed">
    <parent link="rthigh4"/>
    <child link="RKnee_servo_horn"/>
    <origin rpy="0 -1.5708 0" xyz="-0.0246 0 -0.0286"/>
  </joint>
  <link name="rknee1">
    <visual>
      <geometry>
        <mesh filename="package://george/meshes/multi-purp-simple.dae" scale="1 1 1"/>
      </geometry>
      <origin rpy="0 3.1416 0" xyz="0.0161 -0.0142 -0.0144"/>
      <material name="blue">
        <color rgba="0 0 .8 1"/>
      </material>
    </visual>
    <collision>
      <geometry>
        <box size=".005 .005 .005"/>
        <!--  mesh filename="package://george/meshes/multi-purp-simple.dae" scale="1 1 1"/-->
      </geometry>
      <origin rpy="0 3.1416 0" xyz="0.0161 -0.0142 -0.0144"/>
    </collision>
    <inertial>
      <mass value="0.001"/>
      <inertia ixx="0.001" ixy="0.0" ixz="0.0" iyy="0.001" iyz="0.0" izz="0.001"/>
    </inertial>
  </link>
  <joint name="rknee_to_rknee1" type="fixed">
    <parent link="RKnee_servo_body"/>
    <child link="rknee1"/>
    <origin rpy="0 0 0" xyz="0 0 0"/>
  </joint>
  <link name="rknee2">
    <visual>
      <geometry>
        <mesh filename="package://george/meshes/cbracket-simple.dae" scale="1 1 1"/>
      </geometry>
      <origin rpy="-1.5708 0 0" xyz="0 0 0"/>
      <material name="blue">
        <color rgba="0 0 .8 1"/>
      </material>
    </visual>
    <collision>
      <geometry>
        <box size=".005 .005 .005"/>
        <!--  mesh filename="package://george/meshes/cbracket-simple.dae" scale="1 1 1"/-->
      </geometry>
      <origin rpy="-1.5708 0 0" xyz="0 0 0"/>
    </collision>
    <inertial>
      <mass value="0.001"/>
      <inertia ixx="0.001" ixy="0.0" ixz="0.0" iyy="0.001" iyz="0.0" izz="0.001"/>
    </inertial>
  </link>
  <joint name="rknee1_to_rknee2" type="fixed">
    <parent link="rknee1"/>
    <child link="rknee2"/>
    <origin rpy="-1.5708 1.5708 0" xyz="0.0078 -0.0141 -0.008"/>
  </joint>
  <link name="RAnkleBend_servo_body">
    <visual>
      <geometry>
        <box size=".040 .02 .0365"/>
      </geometry>
      <origin rpy="0 0 0" xyz="0.0161 0 -0.00825"/>
      <material name="black">
        <color rgba=".1 .1 1 1"/>
      </material>
    </visual>
    <collision>
      <geometry>
        <box size=".040 .02 .0365"/>
      </geometry>
      <origin rpy="0 0 0" xyz="0.0161 0 -0.00825"/>
    </collision>
    <inertial>
      <mass value="0.055"/>
      <inertia ixx="0.001" ixy="0.0" ixz="0.0" iyy="0.001" iyz="0.0" izz="0.001"/>
    </inertial>
  </link>
  <link name="RAnkleBend_servo_lip">
    <visual>
      <geometry>
        <box size=".0528 .02 .002"/>
      </geometry>
      <origin rpy="0 0 0.001" xyz="0 0 0"/>
      <material name="black">
        <color rgba=".1 .1 1 1"/>
      </material>
    </visual>
    <collision>
      <geometry>
        <box size=".0528 .02 .002"/>
      </geometry>
      <origin rpy="0 0 0.001" xyz="0 0 0"/>
    </collision>
    <inertial>
      <mass value="0.001"/>
      <inertia ixx="0.001" ixy="0.0" ixz="0.0" iyy="0.001" iyz="0.0" izz="0.001"/>
    </inertial>
  </link>
  <link name="RAnkleBend_servo_horn">
    <visual>
      <geometry>
        <cylinder length="0.001" radius="0.012"/>
      </geometry>
      <origin rpy="0 0 0" xyz="0 0 -.0005"/>
      <material name="white">
        <color rgba="1 1 1 1"/>
      </material>
    </visual>
    <collision>
      <geometry>
        <cylinder length="0.001" radius="0.012"/>
      </geometry>
      <origin rpy="0 0 0" xyz="0 0 -.0005"/>
    </collision>
    <inertial>
      <mass value="0.001"/>
      <inertia ixx="0.001" ixy="0.0" ixz="0.0" iyy="0.001" iyz="0.0" izz="0.001"/>
    </inertial>
  </link>
  <joint name="RAnkleBend_servo_lip_to_body" type="fixed">
    <parent link="RAnkleBend_servo_body"/>
    <child link="RAnkleBend_servo_lip"/>
    <origin xyz="0.0161 0 0"/>
  </joint>
  <joint name="RAnkleBend" type="revolute">
    <axis xyz="0 0 1"/>
    <limit effort="1000.0" lower="-1.5708" upper="1.5708" velocity="0.5"/>
    <parent link="RAnkleBend_servo_horn"/>
    <child link="RAnkleBend_servo_body"/>
    <origin rpy="0 0 1.5708" xyz="0.0 0 -0.0161"/>
  </joint>
  <joint name="rknee2_to_ranklebend" type="fixed">
    <parent link="rknee2"/>
    <child link="RAnkleBend_servo_horn"/>
    <origin rpy="0 -1.5708 0" xyz="-0.0246 0 -0.0286"/>
  </joint>
  <link name="rshin1">
    <visual>
      <geometry>
        <mesh filename="package://george/meshes/multi-purp-simple.dae" scale="1 1 1"/>
      </geometry>
      <origin rpy="0 3.1416 3.1416" xyz="0.0161 0.0142 -0.0144"/>
      <material name="blue">
        <color rgba="0 0 .8 1"/>
      </material>
    </visual>
    <collision>
      <geometry>
        <box size=".005 .005 .005"/>
        <!--  mesh filename="package://george/meshes/multi-purp-simple.dae" scale="1 1 1"/-->
      </geometry>
      <origin rpy="0 3.1416 3.1416" xyz="0.0161 0.0142 -0.0144"/>
    </collision>
    <inertial>
      <mass value="0.001"/>
      <inertia ixx="0.001" ixy="0.0" ixz="0.0" iyy="0.001" iyz="0.0" izz="0.001"/>
    </inertial>
  </link>
  <joint name="ranklebend_to_rshin1" type="fixed">
    <parent link="RAnkleBend_servo_body"/>
    <child link="rshin1"/>
    <origin rpy="0 0 0" xyz="0 0 0"/>
  </joint>
  <link name="lpright">
    <visual>
      <geometry>
        <mesh filename="package://george/meshes/low-profile-simple.dae" scale="1 1 1"/>
      </geometry>
      <origin rpy="-1.5708 -1.5708 0" xyz="0 0 0"/>
      <material name="blue">
        <color rgba="0 0 .8 1"/>
      </material>
    </visual>
    <collision>
      <geometry>
        <box size=".005 .005 .005"/>
        <!--  mesh filename="package://george/meshes/low-profile-simple.dae" scale="1 1 1"/-->
      </geometry>
      <origin rpy="-1.5708 -1.5708 0" xyz="0 0 0"/>
      <material name="blue">
        <color rgba="0 0 .8 1"/>
      </material>
    </collision>
    <inertial>
      <mass value="0.001"/>
      <inertia ixx="0.001" ixy="0.0" ixz="0.0" iyy="0.001" iyz="0.0" izz="0.001"/>
    </inertial>
  </link>
  <link name="lpright_servo_servo_body">
    <visual>
      <geometry>
        <box size=".040 .02 .0365"/>
      </geometry>
      <origin rpy="0 0 0" xyz="0 0 -0.00825"/>
      <material name="black">
        <color rgba=".1 .1 1 1"/>
      </material>
    </visual>
    <collision>
      <geometry>
        <box size=".040 .02 .0365"/>
      </geometry>
      <origin rpy="0 0 0" xyz="0 0 -0.00825"/>
    </collision>
    <inertial>
      <mass value="0.055"/>
      <inertia ixx="0.001" ixy="0.0" ixz="0.0" iyy="0.001" iyz="0.0" izz="0.001"/>
    </inertial>
  </link>
  <joint name="lpright_lp_to_servo" type="fixed">
    <parent link="lpright"/>
    <child link="lpright_servo_servo_body"/>
    <origin rpy="0 1.5708 1.5708" xyz="-0.0397 0.0165 0.0097"/>
  </joint>
  <joint name="RAnkleRotate" type="revolute">
    <axis xyz="0 1 0"/>
    <limit effort="1000.0" lower="-1.5708" upper="1.5708" velocity="0.5"/>
    <parent link="rshin1"/>
    <child link="lpright"/>
    <origin rpy="0 0 0" xyz="0.0078 0.0281 -0.008"/>
  </joint>
  <link name="rshin2">
    <visual>
      <geometry>
        <mesh filename="package://george/meshes/cbracket-simple.dae" scale="1 1 1"/>
      </geometry>
      <origin rpy="-1.5708 0 0" xyz="0 0 0"/>
      <material name="blue">
        <color rgba="0 0 .8 1"/>
      </material>
    </visual>
    <collision>
      <geometry>
        <box size=".005 .005 .005"/>
        <!--  mesh filename="package://george/meshes/cbracket-simple.dae" scale="1 1 1"/-->
      </geometry>
      <origin rpy="-1.5708 0 0" xyz="0 0 0"/>
    </collision>
    <inertial>
      <mass value="0.001"/>
      <inertia ixx="0.001" ixy="0.0" ixz="0.0" iyy="0.001" iyz="0.0" izz="0.001"/>
    </inertial>
  </link>
  <joint name="rshin1_to_rshin2" type="fixed">
    <parent link="lpright"/>
    <child link="rshin2"/>
    <origin rpy="1.5708 0 0" xyz="0 0.002 0"/>
  </joint>
  <link name="RAnkleTilt_servo_body">
    <visual>
      <geometry>
        <box size=".040 .02 .0365"/>
      </geometry>
      <origin rpy="0 0 0" xyz="0.0161 0 -0.00825"/>
      <material name="black">
        <color rgba=".1 .1 1 1"/>
      </material>
    </visual>
    <collision>
      <geometry>
        <box size=".040 .02 .0365"/>
      </geometry>
      <origin rpy="0 0 0" xyz="0.0161 0 -0.00825"/>
    </collision>
    <inertial>
      <mass value="0.055"/>
      <inertia ixx="0.001" ixy="0.0" ixz="0.0" iyy="0.001" iyz="0.0" izz="0.001"/>
    </inertial>
  </link>
  <link name="RAnkleTilt_servo_lip">
    <visual>
      <geometry>
        <box size=".0528 .02 .002"/>
      </geometry>
      <origin rpy="0 0 0.001" xyz="0 0 0"/>
      <material name="black">
        <color rgba=".1 .1 1 1"/>
      </material>
    </visual>
    <collision>
      <geometry>
        <box size=".0528 .02 .002"/>
      </geometry>
      <origin rpy="0 0 0.001" xyz="0 0 0"/>
    </collision>
    <inertial>
      <mass value="0.001"/>
      <inertia ixx="0.001" ixy="0.0" ixz="0.0" iyy="0.001" iyz="0.0" izz="0.001"/>
    </inertial>
  </link>
  <link name="RAnkleTilt_servo_horn">
    <visual>
      <geometry>
        <cylinder length="0.001" radius="0.012"/>
      </geometry>
      <origin rpy="0 0 0" xyz="0 0 -.0005"/>
      <material name="white">
        <color rgba="1 1 1 1"/>
      </material>
    </visual>
    <collision>
      <geometry>
        <cylinder length="0.001" radius="0.012"/>
      </geometry>
      <origin rpy="0 0 0" xyz="0 0 -.0005"/>
    </collision>
    <inertial>
      <mass value="0.001"/>
      <inertia ixx="0.001" ixy="0.0" ixz="0.0" iyy="0.001" iyz="0.0" izz="0.001"/>
    </inertial>
  </link>
  <joint name="RAnkleTilt_servo_lip_to_body" type="fixed">
    <parent link="RAnkleTilt_servo_body"/>
    <child link="RAnkleTilt_servo_lip"/>
    <origin xyz="0.0161 0 0"/>
  </joint>
  <joint name="RAnkleTilt" type="revolute">
    <axis xyz="0 0 1"/>
    <limit effort="1000.0" lower="-1.5708" upper="1.5708" velocity="0.5"/>
    <parent link="RAnkleTilt_servo_horn"/>
    <child link="RAnkleTilt_servo_body"/>
    <origin rpy="0 0 1.5708" xyz="0.0 0 -0.0161"/>
  </joint>
  <joint name="rshin2_to_RAnkleTilt" type="fixed">
    <parent link="rshin2"/>
    <child link="RAnkleTilt_servo_horn"/>
    <origin rpy="0 -1.5708 0" xyz="-0.0246 0 -0.0286"/>
  </joint>
  <link name="rshin3">
    <visual>
      <geometry>
        <mesh filename="package://george/meshes/multi-purp-simple.dae" scale="1 1 1"/>
      </geometry>
      <origin rpy="0 3.1416 3.1416" xyz="0.0161 0.0142 -0.0144"/>
      <material name="blue">
        <color rgba="0 0 .8 1"/>
      </material>
    </visual>
    <collision>
      <geometry>
        <box size=".005 .005 .005"/>
        <!--  mesh filename="package://george/meshes/multi-purp-simple.dae" scale="1 1 1"/-->
      </geometry>
      <origin rpy="0 3.1416 3.1416" xyz="0.0161 0.0142 -0.0144"/>
    </collision>
    <inertial>
      <mass value="0.001"/>
      <inertia ixx="0.001" ixy="0.0" ixz="0.0" iyy="0.001" iyz="0.0" izz="0.001"/>
    </inertial>
  </link>
  <joint name="rankletwist_to_rshin3" type="fixed">
    <parent link="RAnkleTilt_servo_body"/>
    <child link="rshin3"/>
    <origin rpy="0 0 0" xyz="0 0 0"/>
  </joint>
  <link name="rfoot">
    <visual>
      <geometry>
        <mesh filename="package://george/meshes/foot.dae"/>
      </geometry>
      <origin rpy="0 0 0" xyz="0 0 0"/>
      <material name="blue">
        <color rgba="0 0 .8 1"/>
      </material>
    </visual>
    <collision>
      <geometry>
        <box size="0.065 0.002 0.15"/>
      </geometry>
      <origin rpy="0 0 0" xyz="0 0 0"/>
    </collision>
    <inertial>
      <mass value="0.001"/>
      <inertia ixx="0.001" ixy="0.0" ixz="0.0" iyy="0.001" iyz="0.0" izz="0.001"/>
    </inertial>
  </link>
  <joint name="rshin3_to_rfoot" type="fixed">
    <parent link="rshin3"/>
    <child link="rfoot"/>
    <origin rpy="3.1416 0 0" xyz="0.0161 0.0156 -0.0"/>
  </joint>
  <!-- *********************************************************** -->
  <!-- ***** Left Arm  ******************************************* -->
  <!-- *********************************************************** -->
  <link name="LShoulder_servo_body">
    <visual>
      <geometry>
        <box size=".040 .02 .0365"/>
      </geometry>
      <origin rpy="0 0 0" xyz="0 0 -0.00825"/>
      <material name="black">
        <color rgba=".1 .1 1 1"/>
      </material>
    </visual>
    <collision>
      <geometry>
        <box size=".040 .02 .0365"/>
      </geometry>
      <origin rpy="0 0 0" xyz="0 0 -0.00825"/>
    </collision>
    <inertial>
      <mass value="0.055"/>
      <inertia ixx="0.001" ixy="0.0" ixz="0.0" iyy="0.001" iyz="0.0" izz="0.001"/>
    </inertial>
  </link>
  <link name="LShoulder_servo_lip">
    <visual>
      <geometry>
        <box size=".0528 .02 .002"/>
      </geometry>
      <origin rpy="0 0 0.001" xyz="0 0 0"/>
      <material name="black">
        <color rgba=".1 .1 1 1"/>
      </material>
    </visual>
    <collision>
      <geometry>
        <box size=".0528 .02 .002"/>
      </geometry>
      <origin rpy="0 0 0.001" xyz="0 0 0"/>
    </collision>
    <inertial>
      <mass value="0.001"/>
      <inertia ixx="0.001" ixy="0.0" ixz="0.0" iyy="0.001" iyz="0.0" izz="0.001"/>
    </inertial>
  </link>
  <link name="LShoulder_servo_horn">
    <visual>
      <geometry>
        <cylinder length="0.001" radius="0.012"/>
      </geometry>
      <origin rpy="0 0 0" xyz="0 0 -.0005"/>
      <material name="white">
        <color rgba="1 1 1 1"/>
      </material>
    </visual>
    <collision>
      <geometry>
        <cylinder length="0.001" radius="0.012"/>
      </geometry>
      <origin rpy="0 0 0" xyz="0 0 -.0005"/>
    </collision>
    <inertial>
      <mass value="0.001"/>
      <inertia ixx="0.001" ixy="0.0" ixz="0.0" iyy="0.001" iyz="0.0" izz="0.001"/>
    </inertial>
  </link>
  <joint name="LShoulder_servo_lip_to_body" type="fixed">
    <parent link="LShoulder_servo_body"/>
    <child link="LShoulder_servo_lip"/>
    <origin xyz="0 0 0"/>
  </joint>
  <joint name="LShoulder" type="revolute">
    <axis xyz="0 0 -1"/>
    <limit effort="1000.0" lower="-1.5708" upper="1.5708" velocity="0.5"/>
    <parent link="LShoulder_servo_body"/>
    <child link="LShoulder_servo_horn"/>
    <origin rpy="0 0 0" xyz=".01 0 0.0161"/>
  </joint>
  <joint name="torso_to_lshoulder" type="fixed">
    <parent link="base_link"/>
    <child link="LShoulder_servo_body"/>
    <origin rpy="-1.5708 0 -1.5708" xyz="0.0380 0.023175 0.071438"/>
  </joint>
  <link name="lshoulder1">
    <visual>
      <geometry>
        <mesh filename="package://george/meshes/offset-c-simple.dae" scale="1 1 1"/>
      </geometry>
      <origin rpy="1.5708 0 3.1416" xyz="0 0 0"/>
      <material name="blue">
        <color rgba="0 0 .8 1"/>
      </material>
    </visual>
    <collision>
      <geometry>
        <box size=".005 .005 .005"/>
        <!-- mesh filename="package://george/meshes/offset-c-simple.dae" scale="1 1 1"/-->
      </geometry>
      <origin rpy="1.5708 0 3.1416" xyz="0 0 0"/>
    </collision>
    <inertial>
      <mass value="0.001"/>
      <inertia ixx="0.001" ixy="0.0" ixz="0.0" iyy="0.001" iyz="0.0" izz="0.001"/>
    </inertial>
  </link>
  <joint name="lshoulder1_to_lshoulder" type="fixed">
    <parent link="LShoulder_servo_horn"/>
    <child link="lshoulder1"/>
    <origin rpy="0 0 -1.5708" xyz="0 0 0"/>
  </joint>
  <link name="LElbow_servo_body">
    <visual>
      <geometry>
        <box size=".040 .02 .0365"/>
      </geometry>
      <origin rpy="0 0 0" xyz="0.0161 0 -0.00825"/>
      <material name="black">
        <color rgba=".1 .1 1 1"/>
      </material>
    </visual>
    <collision>
      <geometry>
        <box size=".040 .02 .0365"/>
      </geometry>
      <origin rpy="0 0 0" xyz="0.0161 0 -0.00825"/>
    </collision>
    <inertial>
      <mass value="0.055"/>
      <inertia ixx="0.001" ixy="0.0" ixz="0.0" iyy="0.001" iyz="0.0" izz="0.001"/>
    </inertial>
  </link>
  <link name="LElbow_servo_lip">
    <visual>
      <geometry>
        <box size=".0528 .02 .002"/>
      </geometry>
      <origin rpy="0 0 0.001" xyz="0 0 0"/>
      <material name="black">
        <color rgba=".1 .1 1 1"/>
      </material>
    </visual>
    <collision>
      <geometry>
        <box size=".0528 .02 .002"/>
      </geometry>
      <origin rpy="0 0 0.001" xyz="0 0 0"/>
    </collision>
    <inertial>
      <mass value="0.001"/>
      <inertia ixx="0.001" ixy="0.0" ixz="0.0" iyy="0.001" iyz="0.0" izz="0.001"/>
    </inertial>
  </link>
  <link name="LElbow_servo_horn">
    <visual>
      <geometry>
        <cylinder length="0.001" radius="0.012"/>
      </geometry>
      <origin rpy="0 0 0" xyz="0 0 -.0005"/>
      <material name="white">
        <color rgba="1 1 1 1"/>
      </material>
    </visual>
    <collision>
      <geometry>
        <cylinder length="0.001" radius="0.012"/>
      </geometry>
      <origin rpy="0 0 0" xyz="0 0 -.0005"/>
    </collision>
    <inertial>
      <mass value="0.001"/>
      <inertia ixx="0.001" ixy="0.0" ixz="0.0" iyy="0.001" iyz="0.0" izz="0.001"/>
    </inertial>
  </link>
  <joint name="LElbow_servo_lip_to_body" type="fixed">
    <parent link="LElbow_servo_body"/>
    <child link="LElbow_servo_lip"/>
    <origin xyz="0.0161 0 0"/>
  </joint>
  <joint name="LElbow" type="revolute">
    <axis xyz="0 0 1"/>
    <limit effort="1000.0" lower="-1.5708" upper="1.5708" velocity="0.5"/>
    <parent link="LElbow_servo_horn"/>
    <child link="LElbow_servo_body"/>
    <origin rpy="0 0 0" xyz="0.0 0 -0.0161"/>
  </joint>
  <joint name="lelbow_to_shoulder1" type="fixed">
    <parent link="lshoulder1"/>
    <child link="LElbow_servo_horn"/>
    <origin rpy="0 -1.5708 0" xyz="-0.0246 -0.0187 0.027"/>
  </joint>
  <link name="lforearm1">
    <visual>
      <geometry>
        <mesh filename="package://george/meshes/multi-purp-simple.dae" scale="1 1 1"/>
      </geometry>
      <origin rpy="0 3.1416 0" xyz="0.0161 -0.0142 -0.0144"/>
      <material name="blue">
        <color rgba="0 0 .8 1"/>
      </material>
    </visual>
    <collision>
      <geometry>
        <box size=".005 .005 .005"/>
        <!--  mesh filename="package://george/meshes/multi-purp-simple.dae" scale="1 1 1"/-->
      </geometry>
      <origin rpy="0 3.1416 0" xyz="0.0161 -0.0142 -0.0144"/>
    </collision>
    <inertial>
      <mass value="0.001"/>
      <inertia ixx="0.001" ixy="0.0" ixz="0.0" iyy="0.001" iyz="0.0" izz="0.001"/>
    </inertial>
  </link>
  <joint name="lforearm1_to_lelbow" type="fixed">
    <parent link="LElbow_servo_body"/>
    <child link="lforearm1"/>
    <origin rpy="0 0 0" xyz="0 0 0"/>
  </joint>
  <link name="lforearm2">
    <visual>
      <geometry>
        <mesh filename="package://george/meshes/multi-purp-simple.dae" scale="1 1 1"/>
      </geometry>
      <origin rpy="-1.5708 0 1.5708" xyz="0 0 0"/>
      <material name="blue">
        <color rgba="0 0 .8 1"/>
      </material>
    </visual>
    <collision>
      <geometry>
        <box size=".005 .005 .005"/>
        <!--  mesh filename="package://george/meshes/multi-purp-simple.dae" scale="1 1 1"/-->
      </geometry>
      <origin rpy="-1.5708 0 1.5708" xyz="0 0 0"/>
    </collision>
    <inertial>
      <mass value="0.001"/>
      <inertia ixx="0.001" ixy="0.0" ixz="0.0" iyy="0.001" iyz="0.0" izz="0.001"/>
    </inertial>
  </link>
  <joint name="lforearm2_to_lforearm1" type="fixed">
    <parent link="lforearm1"/>
    <child link="lforearm2"/>
    <origin rpy="-1.5708 0 0" xyz="0.019 -0.0142 -0.0163"/>
  </joint>
  <link name="LWristTwist_servo_body">
    <visual>
      <geometry>
        <box size=".040 .02 .0365"/>
      </geometry>
      <origin rpy="0 0 0" xyz="0 0 -0.00825"/>
      <material name="black">
        <color rgba=".1 .1 1 1"/>
      </material>
    </visual>
    <collision>
      <geometry>
        <box size=".040 .02 .0365"/>
      </geometry>
      <origin rpy="0 0 0" xyz="0 0 -0.00825"/>
    </collision>
    <inertial>
      <mass value="0.055"/>
      <inertia ixx="0.001" ixy="0.0" ixz="0.0" iyy="0.001" iyz="0.0" izz="0.001"/>
    </inertial>
  </link>
  <link name="LWristTwist_servo_lip">
    <visual>
      <geometry>
        <box size=".0528 .02 .002"/>
      </geometry>
      <origin rpy="0 0 0.001" xyz="0 0 0"/>
      <material name="black">
        <color rgba=".1 .1 1 1"/>
      </material>
    </visual>
    <collision>
      <geometry>
        <box size=".0528 .02 .002"/>
      </geometry>
      <origin rpy="0 0 0.001" xyz="0 0 0"/>
    </collision>
    <inertial>
      <mass value="0.001"/>
      <inertia ixx="0.001" ixy="0.0" ixz="0.0" iyy="0.001" iyz="0.0" izz="0.001"/>
    </inertial>
  </link>
  <link name="LWristTwist_servo_horn">
    <visual>
      <geometry>
        <cylinder length="0.001" radius="0.012"/>
      </geometry>
      <origin rpy="0 0 0" xyz="0 0 -.0005"/>
      <material name="white">
        <color rgba="1 1 1 1"/>
      </material>
    </visual>
    <collision>
      <geometry>
        <cylinder length="0.001" radius="0.012"/>
      </geometry>
      <origin rpy="0 0 0" xyz="0 0 -.0005"/>
    </collision>
    <inertial>
      <mass value="0.001"/>
      <inertia ixx="0.001" ixy="0.0" ixz="0.0" iyy="0.001" iyz="0.0" izz="0.001"/>
    </inertial>
  </link>
  <joint name="LWristTwist_servo_lip_to_body" type="fixed">
    <parent link="LWristTwist_servo_body"/>
    <child link="LWristTwist_servo_lip"/>
    <origin xyz="0 0 0"/>
  </joint>
  <joint name="LWristTwist" type="revolute">
    <axis xyz="0 0 -1"/>
    <limit effort="1000.0" lower="-1.5708" upper="1.5708" velocity="0.5"/>
    <parent link="LWristTwist_servo_body"/>
    <child link="LWristTwist_servo_horn"/>
    <origin rpy="0 0 3.1416" xyz=".01 0 0.0161"/>
  </joint>
  <joint name="lwristtwist_to_lforearm2" type="fixed">
    <parent link="lforearm2"/>
    <child link="LWristTwist_servo_body"/>
    <origin rpy="1.5708 0 1.5708" xyz="0.0144 0 -0.0142"/>
  </joint>
  <link name="lforearm3">
    <visual>
      <geometry>
        <mesh filename="package://george/meshes/cbracket-simple.dae" scale="1 1 1"/>
      </geometry>
      <origin rpy="-1.5708 0 0" xyz="0 0 0"/>
      <material name="blue">
        <color rgba="0 0 .8 1"/>
      </material>
    </visual>
    <collision>
      <geometry>
        <box size=".005 .005 .005"/>
        <!--  mesh filename="package://george/meshes/cbracket-simple.dae" scale="1 1 1"/-->
      </geometry>
      <origin rpy="-1.5708 0 0" xyz="0 0 0"/>
    </collision>
    <inertial>
      <mass value="0.001"/>
      <inertia ixx="0.001" ixy="0.0" ixz="0.0" iyy="0.001" iyz="0.0" izz="0.001"/>
    </inertial>
  </link>
  <joint name="lforearm3_to_lwristtwist" type="fixed">
    <parent link="LWristTwist_servo_horn"/>
    <child link="lforearm3"/>
    <origin rpy="3.1416 0 0" xyz="0 0 0"/>
  </joint>
  <link name="LWristFlex_servo_body">
    <visual>
      <geometry>
        <box size=".040 .02 .0365"/>
      </geometry>
      <origin rpy="0 0 0" xyz="0.0161 0 -0.00825"/>
      <material name="black">
        <color rgba=".1 .1 1 1"/>
      </material>
    </visual>
    <collision>
      <geometry>
        <box size=".040 .02 .0365"/>
      </geometry>
      <origin rpy="0 0 0" xyz="0.0161 0 -0.00825"/>
    </collision>
    <inertial>
      <mass value="0.055"/>
      <inertia ixx="0.001" ixy="0.0" ixz="0.0" iyy="0.001" iyz="0.0" izz="0.001"/>
    </inertial>
  </link>
  <link name="LWristFlex_servo_lip">
    <visual>
      <geometry>
        <box size=".0528 .02 .002"/>
      </geometry>
      <origin rpy="0 0 0.001" xyz="0 0 0"/>
      <material name="black">
        <color rgba=".1 .1 1 1"/>
      </material>
    </visual>
    <collision>
      <geometry>
        <box size=".0528 .02 .002"/>
      </geometry>
      <origin rpy="0 0 0.001" xyz="0 0 0"/>
    </collision>
    <inertial>
      <mass value="0.001"/>
      <inertia ixx="0.001" ixy="0.0" ixz="0.0" iyy="0.001" iyz="0.0" izz="0.001"/>
    </inertial>
  </link>
  <link name="LWristFlex_servo_horn">
    <visual>
      <geometry>
        <cylinder length="0.001" radius="0.012"/>
      </geometry>
      <origin rpy="0 0 0" xyz="0 0 -.0005"/>
      <material name="white">
        <color rgba="1 1 1 1"/>
      </material>
    </visual>
    <collision>
      <geometry>
        <cylinder length="0.001" radius="0.012"/>
      </geometry>
      <origin rpy="0 0 0" xyz="0 0 -.0005"/>
    </collision>
    <inertial>
      <mass value="0.001"/>
      <inertia ixx="0.001" ixy="0.0" ixz="0.0" iyy="0.001" iyz="0.0" izz="0.001"/>
    </inertial>
  </link>
  <joint name="LWristFlex_servo_lip_to_body" type="fixed">
    <parent link="LWristFlex_servo_body"/>
    <child link="LWristFlex_servo_lip"/>
    <origin xyz="0.0161 0 0"/>
  </joint>
  <joint name="LWristFlex" type="revolute">
    <axis xyz="0 0 1"/>
    <limit effort="1000.0" lower="-1.5708" upper="1.5708" velocity="0.5"/>
    <parent link="LWristFlex_servo_horn"/>
    <child link="LWristFlex_servo_body"/>
    <origin rpy="0 0 0" xyz="0.0 0 -0.0161"/>
  </joint>
  <joint name="lwristflex_to_lforearm3" type="fixed">
    <parent link="lforearm3"/>
    <child link="LWristFlex_servo_horn"/>
    <origin rpy="0 1.5708 0" xyz="0.0246 0 -0.0286"/>
  </joint>
  <link name="lforearm4">
    <visual>
      <geometry>
        <mesh filename="package://george/meshes/multi-purp-simple.dae" scale="1 1 1"/>
      </geometry>
      <origin rpy="0 3.1416 0" xyz="0.0161 -0.0142 -0.0144"/>
      <material name="blue">
        <color rgba="0 0 .8 1"/>
      </material>
    </visual>
    <collision>
      <geometry>
        <box size=".005 .005 .005"/>
        <!--  mesh filename="package://george/meshes/multi-purp-simple.dae" scale="1 1 1"/-->
      </geometry>
      <origin rpy="0 3.1416 0" xyz="0.0161 -0.0142 -0.0144"/>
    </collision>
    <inertial>
      <mass value="0.001"/>
      <inertia ixx="0.001" ixy="0.0" ixz="0.0" iyy="0.001" iyz="0.0" izz="0.001"/>
    </inertial>
  </link>
  <joint name="lwristflex_to_lforearm4" type="fixed">
    <parent link="LWristFlex_servo_body"/>
    <child link="lforearm4"/>
    <origin rpy="0 0 0" xyz="0 0 0"/>
  </joint>
  <link name="lforearm5">
    <visual>
      <geometry>
        <mesh filename="package://george/meshes/lconnector-simple.dae" scale="1 1 1"/>
      </geometry>
      <origin rpy="0 0 0" xyz="0 0 0"/>
      <material name="blue">
        <color rgba="0 0 .8 1"/>
      </material>
    </visual>
    <collision>
      <geometry>
        <box size=".005 .005 .005"/>
        <!--  mesh filename="package://george/meshes/lconnector-simple.dae" scale="1 1 1"/-->
      </geometry>
      <origin rpy="0 0 0" xyz="0 0 0"/>
    </collision>
    <inertial>
      <mass value="0.001"/>
      <inertia ixx="0.001" ixy="0.0" ixz="0.0" iyy="0.001" iyz="0.0" izz="0.001"/>
    </inertial>
  </link>
  <joint name="lforearm4_to_lforearm5" type="fixed">
    <parent link="lforearm4"/>
    <child link="lforearm5"/>
    <origin rpy="0 0 0" xyz="0.0244 -0.0121 -0.008"/>
  </joint>
  <link name="ltube">
    <visual>
      <geometry>
        <cylinder length="0.079" radius="0.006"/>
      </geometry>
      <origin rpy="0 1.5708 0" xyz="0.0395 0 0"/>
      <material name="white">
        <color rgba="1 1 1 1"/>
      </material>
    </visual>
    <collision>
      <geometry>
        <cylinder length="0.079" radius="0.006"/>
      </geometry>
      <origin rpy="0 1.5708 0" xyz="0.0395 0 0"/>
    </collision>
    <inertial>
      <mass value="0.001"/>
      <inertia ixx="0.001" ixy="0.0" ixz="0.0" iyy="0.001" iyz="0.0" izz="0.001"/>
    </inertial>
  </link>
  <joint name="lforearm5_to_ltube" type="fixed">
    <parent link="lforearm5"/>
    <child link="ltube"/>
    <origin rpy="0 0 0" xyz="0.0227 0.013 0"/>
  </joint>
  <link name="ltip1">
    <visual>
      <geometry>
        <box size=".005 .005 .005"/>
      </geometry>
      <origin rpy="0 0 0" xyz="0 0 0"/>
      <material name="blue">
        <color rgba=".1 .1 1 1"/>
      </material>
    </visual>
  </link>
  <joint name="ltip1_to_ltube" type="revolute">
    <axis xyz="0 0 1"/>
    <limit effort="1000.0" lower="-1.5708" upper="1.5708" velocity="0.5"/>
    <parent link="ltube"/>
    <child link="ltip1"/>
    <origin rpy="0 0 0" xyz="0.070 0 0"/>
  </joint>
  <link name="ltip2">
    <visual>
      <geometry>
        <box size=".005 .005 .005"/>
      </geometry>
      <origin rpy="0 0 0" xyz="0 0 0"/>
      <material name="red">
        <color rgba="1 .1 .1 1"/>
      </material>
    </visual>
  </link>
  <joint name="ltip1_to_ltip2" type="revolute">
    <axis xyz="0 1 0"/>
    <limit effort="1000.0" lower="-1.5708" upper="1.5708" velocity="0.5"/>
    <parent link="ltip1"/>
    <child link="ltip2"/>
    <origin rpy="0 0 0" xyz="0.001 0 0"/>
  </joint>
  <link name="ltip3">
    <visual>
      <geometry>
        <box size=".005 .005 .005"/>
      </geometry>
      <origin rpy="0 0 0" xyz="0 0 0"/>
      <material name="green">
        <color rgba=".1 1 .1 1"/>
      </material>
    </visual>
  </link>
  <joint name="ltip2_to_ltip3" type="revolute">
    <axis xyz="1 0 0"/>
    <limit effort="1000.0" lower="-1.5708" upper="1.5708" velocity="0.5"/>
    <parent link="ltip2"/>
    <child link="ltip3"/>
    <origin rpy="0 0 0" xyz="0.001 0 0"/>
  </joint>
  <!-- *********************************************************** -->
  <!-- ***** Right Arm  ******************************************* -->
  <!-- *********************************************************** -->
  <link name="RShoulder_servo_body">
    <visual>
      <geometry>
        <box size=".040 .02 .0365"/>
      </geometry>
      <origin rpy="0 0 0" xyz="0 0 -0.00825"/>
      <material name="black">
        <color rgba=".1 .1 1 1"/>
      </material>
    </visual>
    <collision>
      <geometry>
        <box size=".040 .02 .0365"/>
      </geometry>
      <origin rpy="0 0 0" xyz="0 0 -0.00825"/>
    </collision>
    <inertial>
      <mass value="0.055"/>
      <inertia ixx="0.001" ixy="0.0" ixz="0.0" iyy="0.001" iyz="0.0" izz="0.001"/>
    </inertial>
  </link>
  <link name="RShoulder_servo_lip">
    <visual>
      <geometry>
        <box size=".0528 .02 .002"/>
      </geometry>
      <origin rpy="0 0 0.001" xyz="0 0 0"/>
      <material name="black">
        <color rgba=".1 .1 1 1"/>
      </material>
    </visual>
    <collision>
      <geometry>
        <box size=".0528 .02 .002"/>
      </geometry>
      <origin rpy="0 0 0.001" xyz="0 0 0"/>
    </collision>
    <inertial>
      <mass value="0.001"/>
      <inertia ixx="0.001" ixy="0.0" ixz="0.0" iyy="0.001" iyz="0.0" izz="0.001"/>
    </inertial>
  </link>
  <link name="RShoulder_servo_horn">
    <visual>
      <geometry>
        <cylinder length="0.001" radius="0.012"/>
      </geometry>
      <origin rpy="0 0 0" xyz="0 0 -.0005"/>
      <material name="white">
        <color rgba="1 1 1 1"/>
      </material>
    </visual>
    <collision>
      <geometry>
        <cylinder length="0.001" radius="0.012"/>
      </geometry>
      <origin rpy="0 0 0" xyz="0 0 -.0005"/>
    </collision>
    <inertial>
      <mass value="0.001"/>
      <inertia ixx="0.001" ixy="0.0" ixz="0.0" iyy="0.001" iyz="0.0" izz="0.001"/>
    </inertial>
  </link>
  <joint name="RShoulder_servo_lip_to_body" type="fixed">
    <parent link="RShoulder_servo_body"/>
    <child link="RShoulder_servo_lip"/>
    <origin xyz="0 0 0"/>
  </joint>
  <joint name="RShoulder" type="revolute">
    <axis xyz="0 0 -1"/>
    <limit effort="1000.0" lower="-1.5708" upper="1.5708" velocity="0.5"/>
    <parent link="RShoulder_servo_body"/>
    <child link="RShoulder_servo_horn"/>
    <origin rpy="0 0 0" xyz=".01 0 0.0161"/>
  </joint>
  <joint name="torso_to_rshoulder" type="fixed">
    <parent link="base_link"/>
    <child link="RShoulder_servo_body"/>
    <origin rpy="1.5708 0 -1.5708" xyz="-0.0380 0.023175 0.071438"/>
  </joint>
  <link name="rshoulder1">
    <visual>
      <geometry>
        <mesh filename="package://george/meshes/offset-c-simple.dae" scale="1 1 1"/>
      </geometry>
      <origin rpy="1.5708 0 0" xyz="0 0 0"/>
      <material name="blue">
        <color rgba="0 0 .8 1"/>
      </material>
    </visual>
    <collision>
      <geometry>
        <box size=".005 .005 .005"/>
        <!-- mesh filename="package://george/meshes/offset-c-simple.dae" scale="1 1 1"/-->
      </geometry>
      <origin rpy="1.5708 0 0" xyz="0 0 0"/>
    </collision>
    <inertial>
      <mass value="0.001"/>
      <inertia ixx="0.001" ixy="0.0" ixz="0.0" iyy="0.001" iyz="0.0" izz="0.001"/>
    </inertial>
  </link>
  <joint name="rshoulder1_to_rshoulder" type="fixed">
    <parent link="RShoulder_servo_horn"/>
    <child link="rshoulder1"/>
    <origin rpy="0 0 1.5708" xyz="0 0 0"/>
  </joint>
  <link name="RElbow_servo_body">
    <visual>
      <geometry>
        <box size=".040 .02 .0365"/>
      </geometry>
      <origin rpy="0 0 0" xyz="0.0161 0 -0.00825"/>
      <material name="black">
        <color rgba=".1 .1 1 1"/>
      </material>
    </visual>
    <collision>
      <geometry>
        <box size=".040 .02 .0365"/>
      </geometry>
      <origin rpy="0 0 0" xyz="0.0161 0 -0.00825"/>
    </collision>
    <inertial>
      <mass value="0.055"/>
      <inertia ixx="0.001" ixy="0.0" ixz="0.0" iyy="0.001" iyz="0.0" izz="0.001"/>
    </inertial>
  </link>
  <link name="RElbow_servo_lip">
    <visual>
      <geometry>
        <box size=".0528 .02 .002"/>
      </geometry>
      <origin rpy="0 0 0.001" xyz="0 0 0"/>
      <material name="black">
        <color rgba=".1 .1 1 1"/>
      </material>
    </visual>
    <collision>
      <geometry>
        <box size=".0528 .02 .002"/>
      </geometry>
      <origin rpy="0 0 0.001" xyz="0 0 0"/>
    </collision>
    <inertial>
      <mass value="0.001"/>
      <inertia ixx="0.001" ixy="0.0" ixz="0.0" iyy="0.001" iyz="0.0" izz="0.001"/>
    </inertial>
  </link>
  <link name="RElbow_servo_horn">
    <visual>
      <geometry>
        <cylinder length="0.001" radius="0.012"/>
      </geometry>
      <origin rpy="0 0 0" xyz="0 0 -.0005"/>
      <material name="white">
        <color rgba="1 1 1 1"/>
      </material>
    </visual>
    <collision>
      <geometry>
        <cylinder length="0.001" radius="0.012"/>
      </geometry>
      <origin rpy="0 0 0" xyz="0 0 -.0005"/>
    </collision>
    <inertial>
      <mass value="0.001"/>
      <inertia ixx="0.001" ixy="0.0" ixz="0.0" iyy="0.001" iyz="0.0" izz="0.001"/>
    </inertial>
  </link>
  <joint name="RElbow_servo_lip_to_body" type="fixed">
    <parent link="RElbow_servo_body"/>
    <child link="RElbow_servo_lip"/>
    <origin xyz="0.0161 0 0"/>
  </joint>
  <joint name="RElbow" type="revolute">
    <axis xyz="0 0 1"/>
    <limit effort="1000.0" lower="-1.5708" upper="1.5708" velocity="0.5"/>
    <parent link="RElbow_servo_horn"/>
    <child link="RElbow_servo_body"/>
    <origin rpy="0 0 0" xyz="0.0 0 -0.0161"/>
  </joint>
  <joint name="relbow_to_shoulder1" type="fixed">
    <parent link="rshoulder1"/>
    <child link="RElbow_servo_horn"/>
    <origin rpy="0 -1.5708 0" xyz="-0.0246 0.0187 0.027"/>
  </joint>
  <link name="rforearm1">
    <visual>
      <geometry>
        <mesh filename="package://george/meshes/multi-purp-simple.dae" scale="1 1 1"/>
      </geometry>
      <origin rpy="0 3.1416 0" xyz="0.0161 -0.0142 -0.0144"/>
      <material name="blue">
        <color rgba="0 0 .8 1"/>
      </material>
    </visual>
    <collision>
      <geometry>
        <box size=".005 .005 .005"/>
        <!--  mesh filename="package://george/meshes/multi-purp-simple.dae" scale="1 1 1"/-->
      </geometry>
      <origin rpy="0 3.1416 0" xyz="0.0161 -0.0142 -0.0144"/>
    </collision>
    <inertial>
      <mass value="0.001"/>
      <inertia ixx="0.001" ixy="0.0" ixz="0.0" iyy="0.001" iyz="0.0" izz="0.001"/>
    </inertial>
  </link>
  <joint name="rforearm1_to_relbow" type="fixed">
    <parent link="RElbow_servo_body"/>
    <child link="rforearm1"/>
    <origin rpy="3.1416 3.1416 0" xyz="0.0322 0 0"/>
  </joint>
  <link name="rforearm2">
    <visual>
      <geometry>
        <mesh filename="package://george/meshes/multi-purp-simple.dae" scale="1 1 1"/>
      </geometry>
      <origin rpy="-1.5708 0 1.5708" xyz="0 0 0"/>
      <material name="blue">
        <color rgba="0 0 .8 1"/>
      </material>
    </visual>
    <collision>
      <geometry>
        <box size=".005 .005 .005"/>
        <!--  mesh filename="package://george/meshes/multi-purp-simple.dae" scale="1 1 1"/-->
      </geometry>
      <origin rpy="-1.5708 0 1.5708" xyz="0 0 0"/>
    </collision>
    <inertial>
      <mass value="0.001"/>
      <inertia ixx="0.001" ixy="0.0" ixz="0.0" iyy="0.001" iyz="0.0" izz="0.001"/>
    </inertial>
  </link>
  <joint name="rforearm2_to_rforearm1" type="fixed">
    <parent link="rforearm1"/>
    <child link="rforearm2"/>
    <origin rpy="-1.5708 3.1416 0" xyz="0.0024 -0.0142 -0.0163"/>
  </joint>
  <link name="RWristTwist_servo_body">
    <visual>
      <geometry>
        <box size=".040 .02 .0365"/>
      </geometry>
      <origin rpy="0 0 0" xyz="0 0 -0.00825"/>
      <material name="black">
        <color rgba=".1 .1 1 1"/>
      </material>
    </visual>
    <collision>
      <geometry>
        <box size=".040 .02 .0365"/>
      </geometry>
      <origin rpy="0 0 0" xyz="0 0 -0.00825"/>
    </collision>
    <inertial>
      <mass value="0.055"/>
      <inertia ixx="0.001" ixy="0.0" ixz="0.0" iyy="0.001" iyz="0.0" izz="0.001"/>
    </inertial>
  </link>
  <link name="RWristTwist_servo_lip">
    <visual>
      <geometry>
        <box size=".0528 .02 .002"/>
      </geometry>
      <origin rpy="0 0 0.001" xyz="0 0 0"/>
      <material name="black">
        <color rgba=".1 .1 1 1"/>
      </material>
    </visual>
    <collision>
      <geometry>
        <box size=".0528 .02 .002"/>
      </geometry>
      <origin rpy="0 0 0.001" xyz="0 0 0"/>
    </collision>
    <inertial>
      <mass value="0.001"/>
      <inertia ixx="0.001" ixy="0.0" ixz="0.0" iyy="0.001" iyz="0.0" izz="0.001"/>
    </inertial>
  </link>
  <link name="RWristTwist_servo_horn">
    <visual>
      <geometry>
        <cylinder length="0.001" radius="0.012"/>
      </geometry>
      <origin rpy="0 0 0" xyz="0 0 -.0005"/>
      <material name="white">
        <color rgba="1 1 1 1"/>
      </material>
    </visual>
    <collision>
      <geometry>
        <cylinder length="0.001" radius="0.012"/>
      </geometry>
      <origin rpy="0 0 0" xyz="0 0 -.0005"/>
    </collision>
    <inertial>
      <mass value="0.001"/>
      <inertia ixx="0.001" ixy="0.0" ixz="0.0" iyy="0.001" iyz="0.0" izz="0.001"/>
    </inertial>
  </link>
  <joint name="RWristTwist_servo_lip_to_body" type="fixed">
    <parent link="RWristTwist_servo_body"/>
    <child link="RWristTwist_servo_lip"/>
    <origin xyz="0 0 0"/>
  </joint>
  <joint name="RWristTwist" type="revolute">
    <axis xyz="0 0 -1"/>
    <limit effort="1000.0" lower="-1.5708" upper="1.5708" velocity="0.5"/>
    <parent link="RWristTwist_servo_body"/>
    <child link="RWristTwist_servo_horn"/>
    <origin rpy="0 0 0" xyz=".01 0 0.0161"/>
  </joint>
  <joint name="rwristtwist_to_rforearm2" type="fixed">
    <parent link="rforearm2"/>
    <child link="RWristTwist_servo_body"/>
    <origin rpy="1.5708 0 1.5708" xyz="0.0144 0 -0.0142"/>
  </joint>
  <link name="gripper_base">
    <visual>
      <geometry>
        <mesh filename="package://george/meshes/gripper-base.dae" scale="1 1 1"/>
      </geometry>
      <origin rpy="0 -1.5708 0" xyz="0 0 0"/>
      <material name="blue">
        <color rgba="0 0 .8 1"/>
      </material>
    </visual>
    <collision>
      <geometry>
        <box size=".005 .005 .005"/>
      </geometry>
    </collision>
    <inertial>
      <mass value="0.001"/>
      <inertia ixx="0.001" ixy="0.0" ixz="0.0" iyy="0.001" iyz="0.0" izz="0.001"/>
    </inertial>
  </link>
  <link name="gripper_lfinger">
    <visual>
      <geometry>
        <mesh filename="package://george/meshes/gripper-lfinger.dae" scale="1 1 1"/>
      </geometry>
      <origin rpy="0 0 0" xyz="0 0 0"/>
      <material name="blue">
        <color rgba="0 0 .8 1"/>
      </material>
    </visual>
    <collision>
      <geometry>
        <box size=".005 .005 .005"/>
      </geometry>
    </collision>
    <inertial>
      <mass value="0.001"/>
      <inertia ixx="0.001" ixy="0.0" ixz="0.0" iyy="0.001" iyz="0.0" izz="0.001"/>
    </inertial>
  </link>
  <joint name="gripper_lfinger_to_base" type="fixed">
    <axis xyz="0 1 0"/>
    <parent link="gripper_base"/>
    <child link="gripper_lfinger"/>
    <origin rpy="0 -1.5708 0" xyz="0 0 0"/>
    <limit effort="1000.0" lower="-0.005" upper="0.0137" velocity="0.5"/>
  </joint>
  <link name="gripper_rfinger">
    <visual>
      <geometry>
        <mesh filename="package://george/meshes/gripper-rfinger.dae" scale="1 1 1"/>
      </geometry>
      <origin rpy="0 0 0" xyz="0 0 0"/>
      <material name="blue">
        <color rgba="0 0 .8 1"/>
      </material>
    </visual>
    <collision>
      <geometry>
        <box size=".005 .005 .005"/>
      </geometry>
    </collision>
    <inertial>
      <mass value="0.001"/>
      <inertia ixx="0.001" ixy="0.0" ixz="0.0" iyy="0.001" iyz="0.0" izz="0.001"/>
    </inertial>
  </link>
  <joint name="gripper_rfinger_to_base" type="fixed">
    <!--joint name="${name}_rfinger_to_base" type="prismatic"-->
    <axis xyz="0 1 0"/>
    <parent link="gripper_base"/>
    <child link="gripper_rfinger"/>
    <origin rpy="0 -1.5708 0" xyz="0 0 0"/>
    <limit effort="1000.0" lower="-0.0137" upper="0.005" velocity="0.5"/>
  </joint>
  <link name="gripper_servo_body">
    <visual>
      <geometry>
        <box size=".040 .02 .0365"/>
      </geometry>
      <origin rpy="0 0 0" xyz="0 0 -0.00825"/>
      <material name="black">
        <color rgba=".1 .1 1 1"/>
      </material>
    </visual>
    <collision>
      <geometry>
        <box size=".040 .02 .0365"/>
      </geometry>
      <origin rpy="0 0 0" xyz="0 0 -0.00825"/>
    </collision>
    <inertial>
      <mass value="0.055"/>
      <inertia ixx="0.001" ixy="0.0" ixz="0.0" iyy="0.001" iyz="0.0" izz="0.001"/>
    </inertial>
  </link>
  <link name="gripper_servo_lip">
    <visual>
      <geometry>
        <box size=".0528 .02 .002"/>
      </geometry>
      <origin rpy="0 0 0.001" xyz="0 0 0"/>
      <material name="black">
        <color rgba=".1 .1 1 1"/>
      </material>
    </visual>
    <collision>
      <geometry>
        <box size=".0528 .02 .002"/>
      </geometry>
      <origin rpy="0 0 0.001" xyz="0 0 0"/>
    </collision>
    <inertial>
      <mass value="0.001"/>
      <inertia ixx="0.001" ixy="0.0" ixz="0.0" iyy="0.001" iyz="0.0" izz="0.001"/>
    </inertial>
  </link>
  <link name="gripper_servo_horn">
    <visual>
      <geometry>
        <cylinder length="0.001" radius="0.012"/>
      </geometry>
      <origin rpy="0 0 0" xyz="0 0 -.0005"/>
      <material name="white">
        <color rgba="1 1 1 1"/>
      </material>
    </visual>
    <collision>
      <geometry>
        <cylinder length="0.001" radius="0.012"/>
      </geometry>
      <origin rpy="0 0 0" xyz="0 0 -.0005"/>
    </collision>
    <inertial>
      <mass value="0.001"/>
      <inertia ixx="0.001" ixy="0.0" ixz="0.0" iyy="0.001" iyz="0.0" izz="0.001"/>
    </inertial>
  </link>
  <joint name="gripper_servo_lip_to_body" type="fixed">
    <parent link="gripper_servo_body"/>
    <child link="gripper_servo_lip"/>
    <origin xyz="0 0 0"/>
  </joint>
  <joint name="gripper" type="revolute">
    <axis xyz="0 0 -1"/>
    <limit effort="1000.0" lower="-1.5708" upper="1.5708" velocity="0.5"/>
    <parent link="gripper_servo_body"/>
    <child link="gripper_servo_horn"/>
    <origin rpy="0 0 0" xyz=".01 0 0.0161"/>
  </joint>
  <joint name="gripper_servo_to_base" type="fixed">
    <parent link="gripper_base"/>
    <child link="gripper_servo_body"/>
    <origin rpy="1.5708 0 -1.5708" xyz="0.0058 0.0095 0.01195"/>
  </joint>
  <joint name="gripper_to_wrist" type="fixed">
    <parent link="RWristTwist_servo_horn"/>
    <child link="gripper_base"/>
    <origin rpy="0 0 0" xyz="0 0 0"/>
  </joint>
  <link name="rtip1">
    <visual>
      <geometry>
        <box size=".005 .005 .005"/>
      </geometry>
      <origin rpy="0 0 0" xyz="0 0 0"/>
      <material name="blue">
        <color rgba=".1 .1 1 1"/>
      </material>
    </visual>
  </link>
  <joint name="RHand" type="revolute">
    <axis xyz="0 0 1"/>
    <limit effort="1000.0" lower="-1.5708" upper="1.5708" velocity="0.5"/>
    <parent link="gripper_base"/>
    <child link="rtip1"/>
    <origin rpy="0 1.5708 0" xyz="0 0 0.070"/>
  </joint>
  <link name="rtip2">
    <visual>
      <geometry>
        <box size=".005 .005 .005"/>
      </geometry>
      <origin rpy="0 0 0" xyz="0 0 0"/>
      <material name="red">
        <color rgba="1 .1 .1 1"/>
      </material>
    </visual>
  </link>
  <joint name="rtip1_to_rtip2" type="revolute">
    <axis xyz="0 1 0"/>
    <limit effort="1000.0" lower="-1.5708" upper="1.5708" velocity="0.5"/>
    <parent link="rtip1"/>
    <child link="rtip2"/>
    <origin rpy="0 0 0" xyz="-0.001 0 0"/>
  </joint>
  <link name="rtip3">
    <visual>
      <geometry>
        <box size=".005 .005 .005"/>
      </geometry>
      <origin rpy="0 0 0" xyz="0 0 0"/>
      <material name="green">
        <color rgba=".1 1 .1 1"/>
      </material>
    </visual>
  </link>
  <joint name="rtip2_to_rtip3" type="revolute">
    <axis xyz="1 0 0"/>
    <limit effort="1000.0" lower="-1.5708" upper="1.5708" velocity="0.5"/>
    <parent link="rtip2"/>
    <child link="rtip3"/>
    <origin rpy="0 0 0" xyz="-0.001 0 0"/>
  </joint>
  <!-- *********************************************************** -->
  <!-- ***** head      ******************************************* -->
  <!-- *********************************************************** -->
  <link name="Head_servo_body">
    <visual>
      <geometry>
        <box size=".040 .02 .0365"/>
      </geometry>
      <origin rpy="0 0 0" xyz="0 0 -0.00825"/>
      <material name="black">
        <color rgba=".1 .1 1 1"/>
      </material>
    </visual>
    <collision>
      <geometry>
        <box size=".040 .02 .0365"/>
      </geometry>
      <origin rpy="0 0 0" xyz="0 0 -0.00825"/>
    </collision>
    <inertial>
      <mass value="0.055"/>
      <inertia ixx="0.001" ixy="0.0" ixz="0.0" iyy="0.001" iyz="0.0" izz="0.001"/>
    </inertial>
  </link>
  <link name="Head_servo_lip">
    <visual>
      <geometry>
        <box size=".0528 .02 .002"/>
      </geometry>
      <origin rpy="0 0 0.001" xyz="0 0 0"/>
      <material name="black">
        <color rgba=".1 .1 1 1"/>
      </material>
    </visual>
    <collision>
      <geometry>
        <box size=".0528 .02 .002"/>
      </geometry>
      <origin rpy="0 0 0.001" xyz="0 0 0"/>
    </collision>
    <inertial>
      <mass value="0.001"/>
      <inertia ixx="0.001" ixy="0.0" ixz="0.0" iyy="0.001" iyz="0.0" izz="0.001"/>
    </inertial>
  </link>
  <link name="Head_servo_horn">
    <visual>
      <geometry>
        <cylinder length="0.001" radius="0.012"/>
      </geometry>
      <origin rpy="0 0 0" xyz="0 0 -.0005"/>
      <material name="white">
        <color rgba="1 1 1 1"/>
      </material>
    </visual>
    <collision>
      <geometry>
        <cylinder length="0.001" radius="0.012"/>
      </geometry>
      <origin rpy="0 0 0" xyz="0 0 -.0005"/>
    </collision>
    <inertial>
      <mass value="0.001"/>
      <inertia ixx="0.001" ixy="0.0" ixz="0.0" iyy="0.001" iyz="0.0" izz="0.001"/>
    </inertial>
  </link>
  <joint name="Head_servo_lip_to_body" type="fixed">
    <parent link="Head_servo_body"/>
    <child link="Head_servo_lip"/>
    <origin xyz="0 0 0"/>
  </joint>
  <joint name="Head" type="revolute">
    <axis xyz="0 0 -1"/>
    <limit effort="1000.0" lower="-1.5708" upper="1.5708" velocity="0.5"/>
    <parent link="Head_servo_body"/>
    <child link="Head_servo_horn"/>
    <origin rpy="0 0 0" xyz=".01 0 0.0161"/>
  </joint>
  <joint name="torso_to_head" type="fixed">
    <parent link="base_link"/>
    <child link="Head_servo_body"/>
    <origin rpy="0 0 -1.5708" xyz="0 0.023175 0.087313"/>
  </joint>
  <!--   ['RWaist', 'RHip', 'RKnee', 'RAnkleBend', 'RAnkleRotate', 'RAnkleTilt', 
        'LWaist', 'LHip', 'LKnee', 'LAnkleBend', 'LAnkleRotate', 'LAnkleTilt', 
        'LShoulder', 'LElbow', 'LWristTwist', 'LWristFlex', 
        'RShoulder', 'RElbow', 'RWristTwist', 'RHand', 'Head']
-->
  <!-- *********************************************************** -->
  <!-- *** Gazebo sim stuff ************************************** -->
  <!-- *********************************************************** -->
  <transmission name="tran0">
    <type>transmission_interface/SimpleTransmission</type>
    <joint name="RWaist"/>
    <actuator name="motor0">
      <hardwareInterface>EffortJointInterface</hardwareInterface>
      <mechanicalReduction>1</mechanicalReduction>
    </actuator>
  </transmission>
  <transmission name="tran1">
    <type>transmission_interface/SimpleTransmission</type>
    <joint name="RHip"/>
    <actuator name="motor1">
      <hardwareInterface>EffortJointInterface</hardwareInterface>
      <mechanicalReduction>1</mechanicalReduction>
    </actuator>
  </transmission>
  <transmission name="tran2">
    <type>transmission_interface/SimpleTransmission</type>
    <joint name="RKnee"/>
    <actuator name="motor2">
      <hardwareInterface>EffortJointInterface</hardwareInterface>
      <mechanicalReduction>1</mechanicalReduction>
    </actuator>
  </transmission>
  <transmission name="tran3">
    <type>transmission_interface/SimpleTransmission</type>
    <joint name="RAnkleBend"/>
    <actuator name="motor3">
      <hardwareInterface>EffortJointInterface</hardwareInterface>
      <mechanicalReduction>1</mechanicalReduction>
    </actuator>
  </transmission>
  <transmission name="tran4">
    <type>transmission_interface/SimpleTransmission</type>
    <joint name="RAnkleRotate"/>
    <actuator name="motor4">
      <hardwareInterface>EffortJointInterface</hardwareInterface>
      <mechanicalReduction>1</mechanicalReduction>
    </actuator>
  </transmission>
  <transmission name="tran5">
    <type>transmission_interface/SimpleTransmission</type>
    <joint name="RAnkleTilt"/>
    <actuator name="motor5">
      <hardwareInterface>EffortJointInterface</hardwareInterface>
      <mechanicalReduction>1</mechanicalReduction>
    </actuator>
  </transmission>
  <transmission name="tran6">
    <type>transmission_interface/SimpleTransmission</type>
    <joint name="LWaist"/>
    <actuator name="motor6">
      <hardwareInterface>EffortJointInterface</hardwareInterface>
      <mechanicalReduction>1</mechanicalReduction>
    </actuator>
  </transmission>
  <transmission name="tran7">
    <type>transmission_interface/SimpleTransmission</type>
    <joint name="LHip"/>
    <actuator name="motor7">
      <hardwareInterface>EffortJointInterface</hardwareInterface>
      <mechanicalReduction>1</mechanicalReduction>
    </actuator>
  </transmission>
  <transmission name="tran8">
    <type>transmission_interface/SimpleTransmission</type>
    <joint name="LKnee"/>
    <actuator name="motor8">
      <hardwareInterface>EffortJointInterface</hardwareInterface>
      <mechanicalReduction>1</mechanicalReduction>
    </actuator>
  </transmission>
  <transmission name="tran9">
    <type>transmission_interface/SimpleTransmission</type>
    <joint name="LAnkleBend"/>
    <actuator name="motor9">
      <hardwareInterface>EffortJointInterface</hardwareInterface>
      <mechanicalReduction>1</mechanicalReduction>
    </actuator>
  </transmission>
  <transmission name="tran10">
    <type>transmission_interface/SimpleTransmission</type>
    <joint name="LAnkleRotate"/>
    <actuator name="motor10">
      <hardwareInterface>EffortJointInterface</hardwareInterface>
      <mechanicalReduction>1</mechanicalReduction>
    </actuator>
  </transmission>
  <transmission name="tran11">
    <type>transmission_interface/SimpleTransmission</type>
    <joint name="LAnkleTilt"/>
    <actuator name="motor11">
      <hardwareInterface>EffortJointInterface</hardwareInterface>
      <mechanicalReduction>1</mechanicalReduction>
    </actuator>
  </transmission>
  <transmission name="tran12">
    <type>transmission_interface/SimpleTransmission</type>
    <joint name="LShoulder"/>
    <actuator name="motor12">
      <hardwareInterface>EffortJointInterface</hardwareInterface>
      <mechanicalReduction>1</mechanicalReduction>
    </actuator>
  </transmission>
  <transmission name="tran13">
    <type>transmission_interface/SimpleTransmission</type>
    <joint name="LElbow"/>
    <actuator name="motor13">
      <hardwareInterface>EffortJointInterface</hardwareInterface>
      <mechanicalReduction>1</mechanicalReduction>
    </actuator>
  </transmission>
  <transmission name="tran14">
    <type>transmission_interface/SimpleTransmission</type>
    <joint name="LWristTwist"/>
    <actuator name="motor14">
      <hardwareInterface>EffortJointInterface</hardwareInterface>
      <mechanicalReduction>1</mechanicalReduction>
    </actuator>
  </transmission>
  <transmission name="tran15">
    <type>transmission_interface/SimpleTransmission</type>
    <joint name="LWristFlex"/>
    <actuator name="motor15">
      <hardwareInterface>EffortJointInterface</hardwareInterface>
      <mechanicalReduction>1</mechanicalReduction>
    </actuator>
  </transmission>
  <transmission name="tran16">
    <type>transmission_interface/SimpleTransmission</type>
    <joint name="RShoulder"/>
    <actuator name="motor16">
      <hardwareInterface>EffortJointInterface</hardwareInterface>
      <mechanicalReduction>1</mechanicalReduction>
    </actuator>
  </transmission>
  <transmission name="tran17">
    <type>transmission_interface/SimpleTransmission</type>
    <joint name="RElbow"/>
    <actuator name="motor17">
      <hardwareInterface>EffortJointInterface</hardwareInterface>
      <mechanicalReduction>1</mechanicalReduction>
    </actuator>
  </transmission>
  <transmission name="tran18">
    <type>transmission_interface/SimpleTransmission</type>
    <joint name="RWristTwist"/>
    <actuator name="motor18">
      <hardwareInterface>EffortJointInterface</hardwareInterface>
      <mechanicalReduction>1</mechanicalReduction>
    </actuator>
  </transmission>
  <!--  transmission name="tran19">
    <type>transmission_interface/SimpleTransmission</type>
    <joint name="RHand" />
    <actuator name="motor19">
      <hardwareInterface>EffortJointInterface</hardwareInterface>
      <mechanicalReduction>1</mechanicalReduction>
    </actuator>
  </transmission-->
  <transmission name="tran20">
    <type>transmission_interface/SimpleTransmission</type>
    <joint name="Head"/>
    <actuator name="motor20">
      <hardwareInterface>EffortJointInterface</hardwareInterface>
      <mechanicalReduction>1</mechanicalReduction>
    </actuator>
  </transmission>
</robot>
